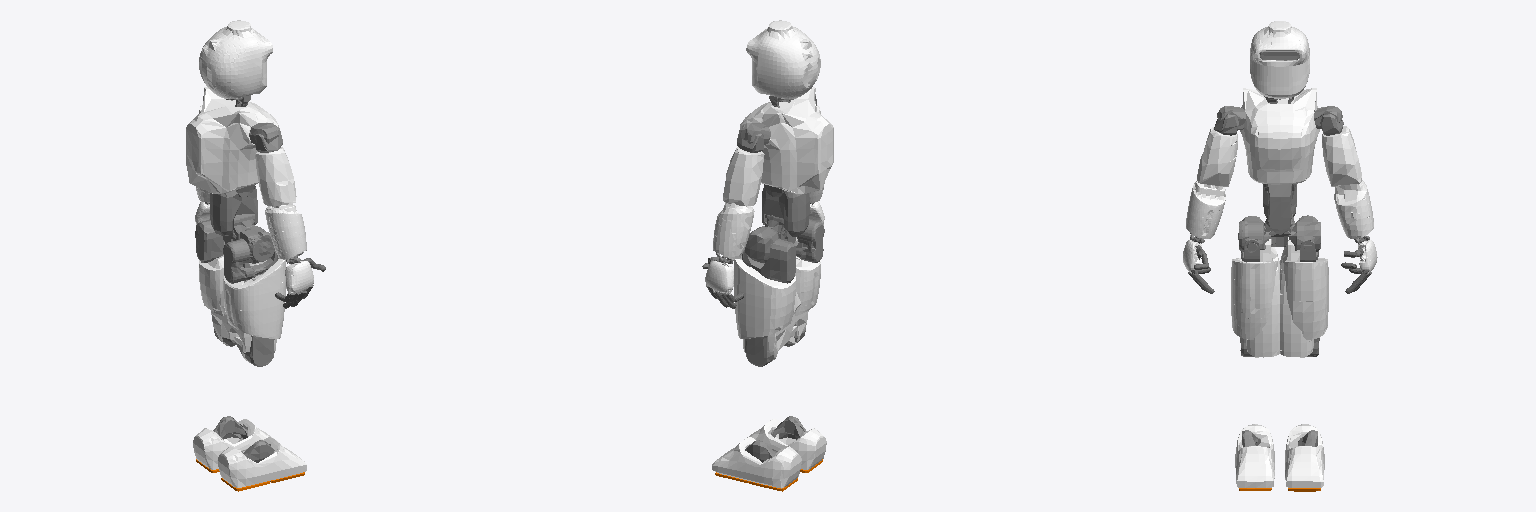
--- Render facts (derived) ---
Views: 3 orthographic renders of the robot side by side, from view 1: azimuth 30°, elevation 25°; view 2: azimuth 150°, elevation 25°; view 3: azimuth 270°, elevation 25°.
Model ergoCub with 205 links and 204 joints (57 revolute, 147 fixed), rooted at root_link, posed all joints at 0 but 12 set to mid-range because 0 is outside their limits (r_middle_prox = 0.9054, r_pinkie_prox = 0.9054, r_ring_prox = 0.9054, r_thumb_prox = 0.8869, r_pinkie_dist = 0.9125, r_index_prox = 0.9054, +6 more).
Visible links, largest first — view 1: chest, head, r_hip_3, r_ankle_2, r_upper_arm, r_forearm, l_ankle_2, torso_1, r_hip_2, l_hip_3, l_hip_2, r_hip_1 (+3 smaller); view 2: chest, head, l_hip_3, l_ankle_2, l_upper_arm, l_forearm, r_ankle_2, torso_1, l_hip_2, r_hip_3, r_hip_2, l_hip_1 (+2 smaller); view 3: chest, head, r_hip_3, l_hip_3, r_ankle_2, l_ankle_2, r_upper_arm, l_upper_arm, l_forearm, r_forearm, l_lower_leg, r_lower_leg (+3 smaller).
Link boxes in pixels (x1,y1,x2,y2): chest: [186, 87, 278, 193]; head: [199, 20, 272, 98]; r_hip_3: [223, 255, 285, 338]; r_ankle_2: [218, 437, 306, 487]; r_upper_arm: [255, 147, 296, 206]; r_forearm: [265, 204, 306, 259]; l_ankle_2: [193, 419, 270, 469]; torso_1: [210, 186, 257, 235]; r_hip_2: [223, 239, 276, 283]; l_hip_3: [199, 255, 223, 315]; l_hip_2: [195, 219, 223, 262]; r_hip_1: [240, 226, 274, 263]; chest: [740, 87, 833, 193]; head: [746, 20, 820, 98]; l_hip_3: [734, 256, 795, 338]; l_ankle_2: [712, 437, 801, 488]; l_upper_arm: [723, 147, 764, 205]; l_forearm: [713, 202, 754, 259]; r_ankle_2: [747, 419, 826, 469]; torso_1: [762, 186, 809, 236]; l_hip_2: [742, 239, 795, 283]; r_hip_3: [795, 256, 820, 315]; r_hip_2: [796, 219, 824, 262]; l_hip_1: [745, 226, 779, 262]; chest: [1240, 88, 1319, 184]; head: [1250, 21, 1309, 98]; r_hip_3: [1231, 258, 1277, 339]; l_hip_3: [1282, 258, 1328, 339]; r_ankle_2: [1235, 424, 1274, 487]; l_ankle_2: [1285, 424, 1324, 487]; r_upper_arm: [1197, 126, 1237, 186]; l_upper_arm: [1322, 126, 1361, 186]; l_forearm: [1334, 180, 1373, 238]; r_forearm: [1186, 181, 1225, 238]; l_lower_leg: [1280, 237, 1313, 357]; r_lower_leg: [1246, 239, 1279, 357].
Bounding box of the posed robot: 0.3293 × 0.5858 × 1.48 m (x, y, z).
67 mesh visuals loaded from 67 distinct referenced files (67 binary STL).

URDF robot description (ergoCub):
<?xml version="1.0"?>
<robot name="ergoCub">
  <link name="root_link">
    <inertial>
      <mass value="2.823751482824641"/>
      <origin xyz="0.0024748962432214403 -1.050794470993344e-4 0.023450368787955644" rpy="0 -0 0"/>
      <inertia ixx="0.005630606285299466" ixy="1.4369039688385168e-6" ixz="2.329934099458601e-5" iyy="0.004380033669258687" iyz="1.4098441290533537e-5" izz="0.003616681010808376"/>
    </inertial>
    <visual>
      <origin xyz="0 0 0" rpy="0 -0 0"/>
      <geometry>
        <mesh filename="package://ergoCub/meshes/simmechanics/sim_ecub_1-1_root_link.stl" scale="0.001 0.001 0.001"/>
      </geometry>
      <material name="">
        <color rgba="0.6 0.6 0.6 1"/>
      </material>
    </visual>
  </link>
  <joint name="l_hip_pitch" type="revolute">
    <origin xyz="0.02109999999999964 0.050500000000000836 1.942890293094024e-16" rpy="3.958535957527503e-15 3.810968172190701e-15 1.167434911886406e-16"/>
    <axis xyz="-5.772831379991284e-17 -1 -1.3843833381666392e-17"/>
    <parent link="root_link"/>
    <child link="l_hip_1"/>
    <limit lower="-0.767944870877505" upper="1.9198621771937625" effort="1e+9" velocity="1e+9"/>
    <dynamics damping="2" friction="0"/>
  </joint>
  <link name="l_hip_1">
    <inertial>
      <mass value="2.231768868859629"/>
      <origin xyz="-0.0040154224851623455 0.028247280560774652 -6.811143992383195e-4" rpy="0 -0 0"/>
      <inertia ixx="0.002210921814931002" ixy="5.971255499379551e-5" ixz="-1.5432160879022988e-5" iyy="0.002695326128467937" iyz="-5.838535051658118e-6" izz="0.0024610381641843883"/>
    </inertial>
    <visual>
      <origin xyz="0 0 0" rpy="0 -0 0"/>
      <geometry>
        <mesh filename="package://ergoCub/meshes/simmechanics/sim_ecub_1-1_l_hip_1.stl" scale="0.001 0.001 0.001"/>
      </geometry>
      <material name="">
        <color rgba="0.6 0.6 0.6 1"/>
      </material>
    </visual>
  </link>
  <joint name="r_hip_pitch" type="revolute">
    <origin xyz="0.021099999999999643 -0.05049999999999917 -2.220446049250313e-16" rpy="3.986223624290839e-15 9.012328668422501e-14 4.978996250550603e-17"/>
    <axis xyz="-1.0880513989386065e-16 -1 1.384383338166008e-17"/>
    <parent link="root_link"/>
    <child link="r_hip_1"/>
    <limit lower="-0.767944870877505" upper="1.9198621771937625" effort="1e+9" velocity="1e+9"/>
    <dynamics damping="2" friction="0"/>
  </joint>
  <link name="r_hip_1">
    <inertial>
      <mass value="2.2320852637398954"/>
      <origin xyz="-0.004032117730258793 -0.028249385885545365 -6.739019720393702e-4" rpy="0 -0 0"/>
      <inertia ixx="0.00221225947743564" ixy="-6.126720536020865e-5" ixz="-1.5035655169601288e-5" iyy="0.002695545891317729" iyz="6.443355522460266e-6" izz="0.0024608876750051726"/>
    </inertial>
    <visual>
      <origin xyz="0 0 0" rpy="0 -0 0"/>
      <geometry>
        <mesh filename="package://ergoCub/meshes/simmechanics/sim_ecub_1-1_r_hip_1.stl" scale="0.001 0.001 0.001"/>
      </geometry>
      <material name="">
        <color rgba="0.6 0.6 0.6 1"/>
      </material>
    </visual>
  </link>
  <joint name="torso_roll" type="revolute">
    <origin xyz="-2.2569638495687323e-18 5.551115123122706e-20 0.060500000000000054" rpy="0 -2.2470258116354473e-44 5.656623812198896e-30"/>
    <axis xyz="-1 0 1.4239886692466155e-15"/>
    <parent link="root_link"/>
    <child link="torso_1"/>
    <limit lower="-0.4363323129985824" upper="0.4363323129985824" effort="1e+9" velocity="1e+9"/>
    <dynamics damping="2" friction="0"/>
  </joint>
  <link name="torso_1">
    <inertial>
      <mass value="2.0645667"/>
      <origin xyz="-0.00963997362197503 6.168494736287859e-4 0.08244231288506354" rpy="0 -0 0"/>
      <inertia ixx="0.007406085999999999" ixy="0" ixz="0" iyy="0.0059470732999999994" iyz="0" izz="0.0031780111"/>
    </inertial>
    <visual>
      <origin xyz="0 0 0" rpy="0 -0 0"/>
      <geometry>
        <mesh filename="package://ergoCub/meshes/simmechanics/sim_ecub_1-1_torso_1.stl" scale="0.001 0.001 0.001"/>
      </geometry>
      <material name="">
        <color rgba="0.6 0.6 0.6 1"/>
      </material>
    </visual>
  </link>
  <joint name="torso_pitch" type="revolute">
    <origin xyz="-7.308863640473442e-17 -4.930380657631324e-32 0.11800000000000001" rpy="3.972379790909169e-15 -2.168404344971009e-19 -5.6574851847587436e-30"/>
    <axis xyz="4.4611650329090856e-46 1 0"/>
    <parent link="torso_1"/>
    <child link="torso_2"/>
    <limit lower="-0.3490658503988659" upper="1.1344640137963142" effort="1e+9" velocity="1e+9"/>
    <dynamics damping="2" friction="0"/>
  </joint>
  <link name="torso_2">
    <inertial>
      <mass value="0.7051627057068411"/>
      <origin xyz="0.0015724674776760373 0.0036223466761378907 0.026019504666210766" rpy="0 -0 0"/>
      <inertia ixx="0.0012590296877101025" ixy="4.1986239270733835e-6" ixz="-5.398163583772818e-6" iyy="6.675525890436374e-4" iyz="7.014302140884287e-5" izz="0.001145822810927014"/>
    </inertial>
    <visual>
      <origin xyz="0 0 0" rpy="0 -0 0"/>
      <geometry>
        <mesh filename="package://ergoCub/meshes/simmechanics/sim_ecub_1-1_torso_2.stl" scale="0.001 0.001 0.001"/>
      </geometry>
      <material name="">
        <color rgba="0.6 0.6 0.6 1"/>
      </material>
    </visual>
  </link>
  <joint name="torso_yaw" type="revolute">
    <origin xyz="1.3451462134168775e-16 2.041347583484923e-16 0.06446999999999986" rpy="-6.08537697719394e-15 -2.0273028245095485e-15 -1.1132600612575291e-15"/>
    <axis xyz="5.75616045676847e-17 -6.185944397532085e-19 -1"/>
    <parent link="torso_2"/>
    <child link="chest"/>
    <limit lower="-0.7853981633974483" upper="0.7853981633974483" effort="1e+9" velocity="1e+9"/>
    <dynamics damping="2" friction="0"/>
  </joint>
  <link name="chest">
    <inertial>
      <mass value="8.169083432788879"/>
      <origin xyz="-0.03577155414469084 -4.1126494112009727e-4 0.08258002384912994" rpy="0 -0 0"/>
      <inertia ixx="0.0410145221879172" ixy="4.588408723680847e-5" ixz="2.1271671513563295e-5" iyy="0.05435611762471025" iyz="-1.1928930234383851e-4" izz="0.04217566475312"/>
    </inertial>
    <visual>
      <origin xyz="0 0 0" rpy="0 -0 0"/>
      <geometry>
        <mesh filename="package://ergoCub/meshes/simmechanics/sim_ecub_1-3_chest_wo_neck.stl" scale="0.001 0.001 0.001"/>
      </geometry>
      <material name="">
        <color rgba="1 1 1 1"/>
      </material>
    </visual>
  </link>
  <joint name="l_shoulder_pitch" type="revolute">
    <origin xyz="-0.013518676842609894 0.06704761117227466 0.12351981080941811" rpy="0.253612323873262 -0.05203160550448937 -0.275278732413873"/>
    <axis xyz="1.6479873021779667e-16 1.0000000000000002 1.6653345369377348e-16"/>
    <parent link="chest"/>
    <child link="l_shoulder_1"/>
    <limit lower="-2.9670597283903604" upper="0.6108652381980153" effort="1e+9" velocity="1e+9"/>
    <dynamics damping="2" friction="0"/>
  </joint>
  <link name="l_shoulder_1">
    <inertial>
      <mass value="0.7913756606310043"/>
      <origin xyz="1.4824275422014796e-4 0.06782971819041986 5.036196460999898e-4" rpy="0 -0 0"/>
      <inertia ixx="0.01" ixy="0" ixz="0" iyy="0.01" iyz="0" izz="0.01"/>
    </inertial>
    <visual>
      <origin xyz="0 0 0" rpy="0 -0 0"/>
      <geometry>
        <mesh filename="package://ergoCub/meshes/simmechanics/sim_ecub_1-1_l_shoulder_1.stl" scale="0.001 0.001 0.001"/>
      </geometry>
      <material name="">
        <color rgba="0.6 0.6 0.6 1"/>
      </material>
    </visual>
  </link>
  <joint name="r_shoulder_pitch" type="revolute">
    <origin xyz="-0.013518676842610102 -0.06704761117227455 0.123519810809418" rpy="-0.253612323873266 -0.052031605504494316 0.27527873241387213"/>
    <axis xyz="-4.961309141293668e-16 1 3.7192471324942744e-15"/>
    <parent link="chest"/>
    <child link="r_shoulder_1"/>
    <limit lower="-2.9670597283903604" upper="0.6108652381980153" effort="1e+9" velocity="1e+9"/>
    <dynamics damping="2" friction="0"/>
  </joint>
  <link name="r_shoulder_1">
    <inertial>
      <mass value="0.7922822880502421"/>
      <origin xyz="1.7243569867328445e-4 -0.06784040318161474 4.7600094527533443e-4" rpy="0 -0 0"/>
      <inertia ixx="0.01" ixy="0" ixz="0" iyy="0.01" iyz="0" izz="0.01"/>
    </inertial>
    <visual>
      <origin xyz="0 0 0" rpy="0 -0 0"/>
      <geometry>
        <mesh filename="package://ergoCub/meshes/simmechanics/sim_ecub_1-1_r_shoulder_1.stl" scale="0.001 0.001 0.001"/>
      </geometry>
      <material name="">
        <color rgba="0.6 0.6 0.6 1"/>
      </material>
    </visual>
  </link>
  <joint name="neck_fixed_joint" type="fixed">
    <origin xyz="-0.0037500000000000168 7.771278122844135e-18 0.18230000000000035" rpy="2.454303953180747e-16 -8.862859940900401e-17 -1.7077209126512794e-15"/>
    <parent link="chest"/>
    <child link="neck_1"/>
  </joint>
  <link name="neck_1">
    <inertial>
      <mass value="0.25627387976979793"/>
      <origin xyz="0.006551572810114587 -0.0027050942316333556 0.03528711380390005" rpy="0 -0 0"/>
      <inertia ixx="1.9974023662230547e-4" ixy="2.651751037073238e-7" ixz="-1.54446091528798e-5" iyy="1.2271241386755159e-4" iyz="4.168707548284002e-6" izz="1.2470608919718895e-4"/>
    </inertial>
    <visual>
      <origin xyz="0 0 0" rpy="0 -0 0"/>
      <geometry>
        <mesh filename="package://ergoCub/meshes/simmechanics/sim_ecub_1-3_head_neck_1.stl" scale="0.001 0.001 0.001"/>
      </geometry>
      <material name="">
        <color rgba="0.6 0.6 0.6 1"/>
      </material>
    </visual>
  </link>
  <joint name="neck_pitch" type="revolute">
    <origin xyz="0.008650000000000012 7.320885711617546e-18 0.04500000000000015" rpy="-1.0665261453816911e-16 -5.519574696288838e-17 -2.6107690343301583e-17"/>
    <axis xyz="2.6107690343301583e-17 -1 -1.0665261453816985e-16"/>
    <parent link="neck_1"/>
    <child link="neck_2"/>
    <limit lower="-0.7853981633974483" upper="0.3839724354387525" effort="1e+9" velocity="1e+9"/>
    <dynamics damping="2" friction="0"/>
  </joint>
  <link name="neck_2">
    <inertial>
      <mass value="0.2945770397905417"/>
      <origin xyz="-0.010459771530164481 2.0082617155355452e-4 0.009087209541868035" rpy="0 -0 0"/>
      <inertia ixx="1.2591560224570937e-4" ixy="-3.064039041078833e-6" ixz="2.6108646064688653e-6" iyy="2.3611402495028025e-4" iyz="-1.0387919568957451e-6" izz="3.055276927828535e-4"/>
    </inertial>
    <visual>
      <origin xyz="0 0 0" rpy="0 -0 0"/>
      <geometry>
        <mesh filename="package://ergoCub/meshes/simmechanics/sim_ecub_1-3_head_neck_2.stl" scale="0.001 0.001 0.001"/>
      </geometry>
      <material name="">
        <color rgba="0.6 0.6 0.6 1"/>
      </material>
    </visual>
  </link>
  <joint name="neck_roll" type="revolute">
    <origin xyz="-8.673617379884035e-18 7.621565237031785e-16 0.0109999999999979" rpy="2.181085978698431e-16 7.048128258423433e-14 1.1728388358407565e-14"/>
    <axis xyz="1 7.656403531628012e-16 -9.994164729509407e-17"/>
    <parent link="neck_2"/>
    <child link="neck_3"/>
    <limit lower="-0.3490658503988659" upper="0.3490658503988659" effort="1e+9" velocity="1e+9"/>
    <dynamics damping="2" friction="0"/>
  </joint>
  <link name="neck_3">
    <inertial>
      <mass value="0.26196252682452986"/>
      <origin xyz="-0.01128743581519258 1.9992128363116957e-7 0.0441664976596047" rpy="0 -0 0"/>
      <inertia ixx="2.1042529365574477e-4" ixy="1.6665678269668257e-8" ixz="-8.803107073461479e-5" iyy="2.703191160638858e-4" iyz="0" izz="1.0757199897321482e-4"/>
    </inertial>
    <visual>
      <origin xyz="0 0 0" rpy="0 -0 0"/>
      <geometry>
        <mesh filename="package://ergoCub/meshes/simmechanics/sim_ecub_1-3_head_neck_3.stl" scale="0.001 0.001 0.001"/>
      </geometry>
      <material name="">
        <color rgba="0.6 0.6 0.6 1"/>
      </material>
    </visual>
  </link>
  <joint name="neck_yaw" type="revolute">
    <origin xyz="-7.979727989493313e-17 1.0170259927660546e-17 0.06914999999999966" rpy="-3.413180771690963e-17 -1.4136323177540172e-15 8.993432958059511e-16"/>
    <axis xyz="1.4136323177540172e-15 -3.4131807716909626e-17 0.9999999999999999"/>
    <parent link="neck_3"/>
    <child link="head"/>
    <limit lower="-0.7853981633974483" upper="0.7853981633974483" effort="1e+9" velocity="1e+9"/>
    <dynamics damping="2" friction="0"/>
  </joint>
  <link name="head">
    <inertial>
      <mass value="1.6902682"/>
      <origin xyz="-0.01620091412622722 -0.002268813231724542 0.03500744217497026" rpy="0 -0 0"/>
      <inertia ixx="0.0097840569" ixy="0" ixz="0" iyy="0.010869342" iyz="0" izz="0.0070099259"/>
    </inertial>
    <visual>
      <origin xyz="0 0 0" rpy="0 -0 0"/>
      <geometry>
        <mesh filename="package://ergoCub/meshes/simmechanics/sim_ecub_1-1_head.stl" scale="0.001 0.001 0.001"/>
      </geometry>
      <material name="">
        <color rgba="1 1 1 1"/>
      </material>
    </visual>
  </link>
  <joint name="camera_tilt" type="revolute">
    <origin xyz="0.06251000000000005 -3.0000000001051003e-5 0.0763925000000007" rpy="9.11230716910164e-15 2.5958199361708845e-4 1.6547436488570698e-15"/>
    <axis xyz="2.482820070582213e-16 -1 -1.3582113747213138e-15"/>
    <parent link="head"/>
    <child link="realsense"/>
    <limit lower="-0.5235987755982988" upper="0.5235987755982988" effort="1e+9" velocity="1e+9"/>
    <dynamics damping="2" friction="0"/>
  </joint>
  <link name="realsense">
    <inertial>
      <mass value="0.0973042045264468"/>
      <origin xyz="-0.01566548310600667 0.004519995218644514 0.002745610154123612" rpy="0 -0 0"/>
      <inertia ixx="0.01" ixy="0" ixz="0" iyy="0.01" iyz="0" izz="0.01"/>
    </inertial>
    <visual>
      <origin xyz="0 0 0" rpy="0 -0 0"/>
      <geometry>
        <mesh filename="package://ergoCub/meshes/simmechanics/sim_ecub_1-1_realsense.stl" scale="0.001 0.001 0.001"/>
      </geometry>
      <material name="">
        <color rgba="0.6 0.6 0.6 1"/>
      </material>
    </visual>
  </link>
  <joint name="r_shoulder_roll" type="revolute">
    <origin xyz="0.007499999999999894 -0.09329999999999998 -4.163336342344337e-16" rpy="-9.270362255620051e-15 9.38832345198648e-15 -4.718447854656911e-15"/>
    <axis xyz="-1.0000000000000009 1.042568809061973e-15 -2.983724378679619e-16"/>
    <parent link="r_shoulder_1"/>
    <child link="r_shoulder_2"/>
    <limit lower="-0.2617993877991494" upper="2.6179938779914944" effort="1e+9" velocity="1e+9"/>
    <dynamics damping="2" friction="0"/>
  </joint>
  <link name="r_shoulder_2">
    <inertial>
      <mass value="0.4392272062642899"/>
      <origin xyz="0.005113618901434032 -2.13348557806331e-4 -0.020425805469504787" rpy="0 -0 0"/>
      <inertia ixx="0.01" ixy="0" ixz="0" iyy="0.01" iyz="0" izz="0.01"/>
    </inertial>
    <visual>
      <origin xyz="0 0 0" rpy="0 -0 0"/>
      <geometry>
        <mesh filename="package://ergoCub/meshes/simmechanics/sim_ecub_1-1_r_shoulder_2.stl" scale="0.001 0.001 0.001"/>
      </geometry>
      <material name="">
        <color rgba="0.6 0.6 0.6 1"/>
      </material>
    </visual>
  </link>
  <joint name="r_arm_ft_sensor" type="fixed">
    <origin xyz="-0.0068499999999999985 -5.551115123125783e-17 -0.05429999999999999" rpy="-1.1102230246251565e-16 -2.3592239273284576e-16 1.7208456881689918e-15"/>
    <parent link="r_shoulder_2"/>
    <child link="r_shoulder_3"/>
  </joint>
  <link name="r_shoulder_3">
    <inertial>
      <mass value="0.271466272759966"/>
      <origin xyz="-8.31167799586717e-5 -3.0654831449927755e-5 -0.007966545320293866" rpy="0 -0 0"/>
      <inertia ixx="0.01" ixy="0" ixz="0" iyy="0.01" iyz="0" izz="0.01"/>
    </inertial>
    <visual>
      <origin xyz="0 0 0" rpy="0 -0 0"/>
      <geometry>
        <mesh filename="package://ergoCub/meshes/simmechanics/sim_ecub_1-1_r_shoulder_3.stl" scale="0.001 0.001 0.001"/>
      </geometry>
      <material name="">
        <color rgba="0.6 0.6 0.6 1"/>
      </material>
    </visual>
  </link>
  <joint name="r_shoulder_yaw" type="revolute">
    <origin xyz="3.469446951953614e-17 2.7755575615628914e-17 -0.022499999999999937" rpy="0 -1.3183898417423734e-16 7.716050021144835e-15"/>
    <axis xyz="8.326672684688738e-17 8.32667268468871e-17 1"/>
    <parent link="r_shoulder_3"/>
    <child link="r_upper_arm"/>
    <limit lower="-0.9075712110370514" upper="1.4311699866353502" effort="1e+9" velocity="1e+9"/>
    <dynamics damping="2" friction="0"/>
  </joint>
  <link name="r_upper_arm">
    <inertial>
      <mass value="1.7722348545631907"/>
      <origin xyz="1.4699786491786937e-4 -0.0023354938418406186 -0.05011711267210951" rpy="0 -0 0"/>
      <inertia ixx="0.0034219198528275844" ixy="3.081029189714289e-5" ixz="2.5743017599563002e-5" iyy="0.003510878854314856" iyz="-1.0938393403810045e-4" izz="0.0015765483711818404"/>
    </inertial>
    <visual>
      <origin xyz="0 0 0" rpy="0 -0 0"/>
      <geometry>
        <mesh filename="package://ergoCub/meshes/simmechanics/sim_ecub_1-1_r_upperarm.stl" scale="0.001 0.001 0.001"/>
      </geometry>
      <material name="">
        <color rgba="1 1 1 1"/>
      </material>
    </visual>
  </link>
  <joint name="r_elbow" type="revolute">
    <origin xyz="0.010000000000000045 0.0015000000000005287 -0.12370000000000003" rpy="-3.330669073875462e-16 -5.564992910933597e-15 -8.160139230994877e-15"/>
    <axis xyz="1.335737076501933e-16 -1.0000000000000027 1.2878587085651816e-14"/>
    <parent link="r_upper_arm"/>
    <child link="r_forearm"/>
    <limit lower="-0.08726646259971647" upper="2.0943951023931953" effort="1e+9" velocity="1e+9"/>
    <dynamics damping="2" friction="0"/>
  </joint>
  <link name="r_forearm">
    <inertial>
      <mass value="1.4760712424977045"/>
      <origin xyz="-0.01830687629472739 -0.002214887320910963 -0.08814943647449926" rpy="0 -0 0"/>
      <inertia ixx="0.009999999999999998" ixy="0" ixz="0" iyy="0.01" iyz="0" izz="0.01"/>
    </inertial>
    <visual>
      <origin xyz="0 0 0" rpy="0 -0 0"/>
      <geometry>
        <mesh filename="package://ergoCub/meshes/simmechanics/sim_ecub_1-1_r_forearm.stl" scale="0.001 0.001 0.001"/>
      </geometry>
      <material name="">
        <color rgba="1 1 1 1"/>
      </material>
    </visual>
  </link>
  <joint name="r_wrist_yaw" type="revolute">
    <origin xyz="-0.014999999999999741 -0.001999999999996449 -0.19435000000000124" rpy="-2.1649348980190505e-15 -1.1594891713428979e-14 -2.9420910152566577e-15"/>
    <axis xyz="5.585809592645348e-15 -1.2712053631958061e-14 1.0000000000000022"/>
    <parent link="r_forearm"/>
    <child link="r_wrist_1"/>
    <limit lower="-1.6057029118347832" upper="1.6057029118347832" effort="1e+9" velocity="1e+9"/>
    <dynamics damping="2" friction="0"/>
  </joint>
  <link name="r_wrist_1">
    <inertial>
      <mass value="0.12269276206782376"/>
      <origin xyz="-1.4544607175177166e-4 1.559247070407055e-4 0.022377800821402394" rpy="0 -0 0"/>
      <inertia ixx="0.01" ixy="0" ixz="0" iyy="0.01" iyz="0" izz="0.01"/>
    </inertial>
    <visual>
      <origin xyz="0 0 0" rpy="0 -0 0"/>
      <geometry>
        <mesh filename="package://ergoCub/meshes/simmechanics/sim_ecub_1-1_r_wrist_1.stl" scale="0.001 0.001 0.001"/>
      </geometry>
      <material name="">
        <color rgba="0.6 0.6 0.6 1"/>
      </material>
    </visual>
  </link>
  <joint name="r_wrist_roll" type="revolute">
    <origin xyz="1.214306433183765e-16 2.220446049250313e-16 1.942890293094024e-16" rpy="1.9428902930940242e-16 9.020562075079397e-17 -3.88578058618805e-16"/>
    <axis xyz="0.9999999999999996 -1.3704315460216776e-16 -1.3183898417423749e-16"/>
    <parent link="r_wrist_1"/>
    <child link="r_wrist_2"/>
    <limit lower="-0.3490658503988659" upper="0.5235987755982988" effort="1e+9" velocity="1e+9"/>
    <dynamics damping="2" friction="0"/>
  </joint>
  <link name="r_wrist_2">
    <inertial>
      <mass value="0.021188357245777188"/>
      <origin xyz="5.05499045400093e-11 7.897372606293362e-4 -0.004696960055006527" rpy="0 -0 0"/>
      <inertia ixx="0.01" ixy="0" ixz="0" iyy="0.01" iyz="0" izz="0.01"/>
    </inertial>
    <visual>
      <origin xyz="0 0 0" rpy="0 -0 0"/>
      <geometry>
        <mesh filename="package://ergoCub/meshes/simmechanics/sim_ecub_1-1_r_wrist_2.stl" scale="0.001 0.001 0.001"/>
      </geometry>
      <material name="">
        <color rgba="0.5 0.5 0.5 1"/>
      </material>
    </visual>
  </link>
  <joint name="r_wrist_pitch" type="revolute">
    <origin xyz="-6.245004513516506e-17 -1.3877787807814457e-16 -1.1102230246251565e-16" rpy="1.387778780781446e-16 -2.5743296383495817e-15 -3.330669073875471e-16"/>
    <axis xyz="3.5735303605122132e-16 -0.9999999999999998 -9.43689570931383e-16"/>
    <parent link="r_wrist_2"/>
    <child link="r_hand_palm"/>
    <limit lower="-0.3490658503988659" upper="0.3490658503988659" effort="1e+9" velocity="1e+9"/>
    <dynamics damping="2" friction="0"/>
  </joint>
  <link name="r_hand_palm">
    <inertial>
      <mass value="0.2020068404688116"/>
      <origin xyz="-0.003982157972782507 -0.0021135289059891482 -0.05842371394186491" rpy="0 -0 0"/>
      <inertia ixx="0.01" ixy="0" ixz="0" iyy="0.01" iyz="0" izz="0.01"/>
    </inertial>
    <visual>
      <origin xyz="0 0 0" rpy="0 -0 0"/>
      <geometry>
        <mesh filename="package://ergoCub/meshes/simmechanics/sim_ecub_1-1_r_hand_palm.stl" scale="0.001 0.001 0.001"/>
      </geometry>
      <material name="">
        <color rgba="1 1 1 1"/>
      </material>
    </visual>
  </link>
  <joint name="r_index_add" type="revolute">
    <origin xyz="0.022499999999999756 0.0015000000000003344 -0.06859999999999983" rpy="-1.480212607508763e-15 0.2967059728390382 3.141592653589792"/>
    <axis xyz="-3.723989090107058e-16 -0.9999999999999997 1.7434690656320414e-15"/>
    <parent link="r_hand_palm"/>
    <child link="r_hand_index_1"/>
    <limit lower="0" upper="0.2617993877991494" effort="1e+9" velocity="1e+9"/>
    <dynamics damping="2" friction="0"/>
  </joint>
  <link name="r_hand_index_1">
    <inertial>
      <mass value="0.019232477290189804"/>
      <origin xyz="-0.008420124408709713 0.003850331678233287 -0.01714942611279774" rpy="0 -0 0"/>
      <inertia ixx="0.01" ixy="0" ixz="0" iyy="0.01" iyz="0" izz="0.01"/>
    </inertial>
    <visual>
      <origin xyz="0 0 0" rpy="0 -0 0"/>
      <geometry>
        <mesh filename="package://ergoCub/meshes/simmechanics/sim_ecub_1-1_r_hand_index_1.stl" scale="0.001 0.001 0.001"/>
      </geometry>
      <material name="">
        <color rgba="0.5 0.5 0.5 1"/>
      </material>
    </visual>
  </link>
  <joint name="r_middle_prox" type="revolute">
    <origin xyz="0.009600000000000192 0.0015000000000006675 -0.1029999999999997" rpy="-1.1542863886937485e-10 8.673617379884035e-16 3.1415926535897927"/>
    <axis xyz="-0.9999999999999997 -4.562322742105741e-15 1.5959455974425262e-15"/>
    <parent link="r_hand_palm"/>
    <child link="r_hand_middle_1"/>
    <limit lower="0.10035643198967395" upper="1.710422666954443" effort="1e+9" velocity="1e+9"/>
    <dynamics damping="2" friction="0"/>
  </joint>
  <link name="r_hand_middle_1">
    <inertial>
      <mass value="0.007486365997467528"/>
      <origin xyz="5.610258533731913e-5 0.0011131046827904112 -0.01742880983276912" rpy="0 -0 0"/>
      <inertia ixx="0.01" ixy="0" ixz="0" iyy="0.01" iyz="0" izz="0.01"/>
    </inertial>
    <visual>
      <origin xyz="0 0 0" rpy="0 -0 0"/>
      <geometry>
        <mesh filename="package://ergoCub/meshes/simmechanics/sim_ecub_1-1_r_hand_middle_1.stl" scale="0.001 0.001 0.001"/>
      </geometry>
      <material name="">
        <color rgba="0.5 0.5 0.5 1"/>
      </material>
    </visual>
  </link>
  <joint name="r_pinkie_prox" type="revolute">
    <origin xyz="-0.03598268094316618 0.0023777595791096284 -0.0920682813194636" rpy="4.109533671631981e-4 -0.08726646259972862 3.115412714809877"/>
    <axis xyz="-0.9999999999999998 4.254497416259634e-15 -2.7755575615628914e-17"/>
    <parent link="r_hand_palm"/>
    <child link="r_hand_pinkie_1"/>
    <limit lower="0.10035643198967395" upper="1.710422666954443" effort="1e+9" velocity="1e+9"/>
    <dynamics damping="2" friction="0"/>
  </joint>
  <link name="r_hand_pinkie_1">
    <inertial>
      <mass value="0.006357585733638135"/>
      <origin xyz="3.616260147435227e-5 0.0012147050941129778 -0.015053109692718447" rpy="0 -0 0"/>
      <inertia ixx="0.01" ixy="0" ixz="0" iyy="0.01" iyz="0" izz="0.01"/>
    </inertial>
    <visual>
      <origin xyz="0 0 0" rpy="0 -0 0"/>
      <geometry>
        <mesh filename="package://ergoCub/meshes/simmechanics/sim_ecub_1-1_r_hand_pinkie_1.stl" scale="0.001 0.001 0.001"/>
      </geometry>
      <material name="">
        <color rgba="0.5 0.5 0.5 1"/>
      </material>
    </visual>
  </link>
  <joint name="r_ring_prox" type="revolute">
    <origin xyz="-0.01541775555811984 0.0018498137284709282 -0.09788067183884414" rpy="-7.278212650060107e-11 -0.08726646259972907 3.115412714809877"/>
    <axis xyz="-0.9999999999999997 -3.66218915082032e-15 -4.371503159461554e-15"/>
    <parent link="r_hand_palm"/>
    <child link="r_hand_ring_1"/>
    <limit lower="0.10035643198967395" upper="1.710422666954443" effort="1e+9" velocity="1e+9"/>
    <dynamics damping="2" friction="0"/>
  </joint>
  <link name="r_hand_ring_1">
    <inertial>
      <mass value="0.007486365997467528"/>
      <origin xyz="5.6102585337293107e-5 0.0011131045999587252 -0.017428809839565573" rpy="0 -0 0"/>
      <inertia ixx="0.01" ixy="0" ixz="0" iyy="0.01" iyz="0" izz="0.01"/>
    </inertial>
    <visual>
      <origin xyz="0 0 0" rpy="0 -0 0"/>
      <geometry>
        <mesh filename="package://ergoCub/meshes/simmechanics/sim_ecub_1-1_r_hand_ring_1.stl" scale="0.001 0.001 0.001"/>
      </geometry>
      <material name="">
        <color rgba="0.5 0.5 0.5 1"/>
      </material>
    </visual>
  </link>
  <joint name="r_thumb_add" type="revolute">
    <origin xyz="0.02337486325639067 0.0030000000000002802 -0.034523838473554336" rpy="1.6236826923039338e-15 -0.2268928027592642 -9.685124831286622e-16"/>
    <axis xyz="5.551115123125783e-17 2.400579033184047e-15 0.9999999999999997"/>
    <parent link="r_hand_palm"/>
    <child link="r_hand_thumb_1"/>
    <limit lower="0" upper="1.7453292519943295" effort="1e+9" velocity="1e+9"/>
    <dynamics damping="2" friction="0"/>
  </joint>
  <link name="r_hand_thumb_1">
    <inertial>
      <mass value="0.02894174189037044"/>
      <origin xyz="0.0183756324403817 -4.55521018183358e-5 0.002126473485347669" rpy="0 -0 0"/>
      <inertia ixx="0.01" ixy="0" ixz="0" iyy="0.01" iyz="0" izz="0.01"/>
    </inertial>
    <visual>
      <origin xyz="0 0 0" rpy="0 -0 0"/>
      <geometry>
        <mesh filename="package://ergoCub/meshes/simmechanics/sim_ecub_1-1_r_hand_thumb_1.stl" scale="0.001 0.001 0.001"/>
      </geometry>
      <material name="">
        <color rgba="0.5 0.5 0.5 1"/>
      </material>
    </visual>
  </link>
  <joint name="r_thumb_prox" type="revolute">
    <origin xyz="0.03807465449956041 0.0034691095803252303 -0.003601744803549689" rpy="1.4305744121363377 0.19703059795893424 -1.4222071875351316"/>
    <axis xyz="-1.0000000000000009 -1.3850032232198828e-14 2.55351295663786e-15"/>
    <parent link="r_hand_thumb_1"/>
    <child link="r_hand_thumb_2"/>
    <limit lower="0.06335545184739416" upper="1.710422666954443" effort="1e+9" velocity="1e+9"/>
    <dynamics damping="2" friction="0"/>
  </joint>
  <link name="r_hand_thumb_2">
    <inertial>
      <mass value="0.00744305878263309"/>
      <origin xyz="1.1691406974989604e-5 3.0451621296398446e-4 -0.014894613060785539" rpy="0 -0 0"/>
      <inertia ixx="0.01" ixy="0" ixz="0" iyy="0.01" iyz="0" izz="0.01"/>
    </inertial>
    <visual>
      <origin xyz="0 0 0" rpy="0 -0 0"/>
      <geometry>
        <mesh filename="package://ergoCub/meshes/simmechanics/sim_ecub_1-1_r_hand_thumb_2.stl" scale="0.001 0.001 0.001"/>
      </geometry>
      <material name="">
        <color rgba="0.5 0.5 0.5 1"/>
      </material>
    </visual>
  </link>
  <joint name="r_thumb_dist" type="revolute">
    <origin xyz="-8.326672684688674e-17 -0.0037106255282955414 -0.03483505788984376" rpy="-0.0632887739526227 1.1102230246251565e-15 1.3156142841808081e-14"/>
    <axis xyz="-1.0000000000000018 -3.053474706904843e-14 2.4380445610377233e-15"/>
    <parent link="r_hand_thumb_2"/>
    <child link="r_hand_thumb_3"/>
    <limit lower="0" upper="1.7763961126798287" effort="1e+9" velocity="1e+9"/>
    <dynamics damping="2" friction="0"/>
  </joint>
  <link name="r_hand_thumb_3">
    <inertial>
      <mass value="0.008481423658381124"/>
      <origin xyz="-2.8601851543103015e-5 0.002737889256839321 -0.016935937291633126" rpy="0 -0 0"/>
      <inertia ixx="0.01" ixy="0" ixz="0" iyy="0.01" iyz="0" izz="0.01"/>
    </inertial>
    <visual>
      <origin xyz="0 0 0" rpy="0 -0 0"/>
      <geometry>
        <mesh filename="package://ergoCub/meshes/simmechanics/sim_ecub_1-1_r_hand_thumb_3.stl" scale="0.001 0.001 0.001"/>
      </geometry>
      <material name="">
        <color rgba="0.5 0.5 0.5 1"/>
      </material>
    </visual>
  </link>
  <joint name="r_ring_dist" type="revolute">
    <origin xyz="2.8275992658421956e-16 -0.0014999999970887745 -0.04000000000010917" rpy="7.277983771203371e-11 -2.060851489460447e-15 -3.6082248300317592e-16"/>
    <axis xyz="-0.9999999999999999 1.2143064331812404e-16 1.9671764217407813e-15"/>
    <parent link="r_hand_ring_1"/>
    <child link="r_hand_ring_2"/>
    <limit lower="0" upper="1.7165313193364231" effort="1e+9" velocity="1e+9"/>
    <dynamics damping="2" friction="0"/>
  </joint>
  <link name="r_hand_ring_2">
    <inertial>
      <mass value="0.007251413355667432"/>
      <origin xyz="4.43251343077225e-5 0.00275470906266162 -0.018890876418029168" rpy="0 -0 0"/>
      <inertia ixx="0.01" ixy="0" ixz="0" iyy="0.01" iyz="0" izz="0.01"/>
    </inertial>
    <visual>
      <origin xyz="0 0 0" rpy="0 -0 0"/>
      <geometry>
        <mesh filename="package://ergoCub/meshes/simmechanics/sim_ecub_1-1_r_hand_ring_2.stl" scale="0.001 0.001 0.001"/>
      </geometry>
      <material name="">
        <color rgba="0.5 0.5 0.5 1"/>
      </material>
    </visual>
  </link>
  <joint name="r_pinkie_dist" type="revolute">
    <origin xyz="2.8102520310824275e-16 -0.0015141933068321678 -0.03499938883222847" rpy="-0.001295691447042631 -2.6853519408120974e-15 -5.551115123125784e-17"/>
    <axis xyz="-0.9999999999999999 1.1811805530917535e-15 3.2393701614668746e-17"/>
    <parent link="r_hand_pinkie_1"/>
    <child link="r_hand_pinkie_2"/>
    <limit lower="0.04852015320544236" upper="1.7763961126798287" effort="1e+9" velocity="1e+9"/>
    <dynamics damping="2" friction="0"/>
  </joint>
  <link name="r_hand_pinkie_2">
    <inertial>
      <mass value="0.007240237490764073"/>
      <origin xyz="2.1391072559044655e-5 0.0027712863562942003 -0.018930305880602127" rpy="0 -0 0"/>
      <inertia ixx="0.01" ixy="0" ixz="0" iyy="0.01" iyz="0" izz="0.01"/>
    </inertial>
    <visual>
      <origin xyz="0 0 0" rpy="0 -0 0"/>
      <geometry>
        <mesh filename="package://ergoCub/meshes/simmechanics/sim_ecub_1-1_r_hand_pinkie_2.stl" scale="0.001 0.001 0.001"/>
      </geometry>
      <material name="">
        <color rgba="0.5 0.5 0.5 1"/>
      </material>
    </visual>
  </link>
  <joint name="r_middle_dist" type="revolute">
    <origin xyz="3.469446951953614e-16 -0.0014999999953827503 -0.04000000000017301" rpy="-7.524008321935235e-8 -1.1379786002407855e-15 -1.6653345369377353e-16"/>
    <axis xyz="-0.9999999999999997 -2.2915699498351828e-15 4.309052941908487e-15"/>
    <parent link="r_hand_middle_1"/>
    <child link="r_hand_middle_2"/>
    <limit lower="0" upper="1.7165313193364231" effort="1e+9" velocity="1e+9"/>
    <dynamics damping="2" friction="0"/>
  </joint>
  <link name="r_hand_middle_2">
    <inertial>
      <mass value="0.007251413355667432"/>
      <origin xyz="4.432513430769475e-5 0.0027547091926723166 -0.018890876399070666" rpy="0 -0 0"/>
      <inertia ixx="0.01" ixy="0" ixz="0" iyy="0.01" iyz="0" izz="0.01"/>
    </inertial>
    <visual>
      <origin xyz="0 0 0" rpy="0 -0 0"/>
      <geometry>
        <mesh filename="package://ergoCub/meshes/simmechanics/sim_ecub_1-1_r_hand_middle_2.stl" scale="0.001 0.001 0.001"/>
      </geometry>
      <material name="">
        <color rgba="0.5 0.5 0.5 1"/>
      </material>
    </visual>
  </link>
  <joint name="r_index_prox" type="revolute">
    <origin xyz="-0.00919253331742792 -1.1102230246251565e-16 -0.030713451316238427" rpy="-1.1542736211289652e-10 -2.7755575615628914e-16 5.551115123125786e-17"/>
    <axis xyz="-0.9999999999999994 3.656797087580167e-15 -1.644517854829551e-15"/>
    <parent link="r_hand_index_1"/>
    <child link="r_hand_index_2"/>
    <limit lower="0.10035643198967395" upper="1.710422666954443" effort="1e+9" velocity="1e+9"/>
    <dynamics damping="2" friction="0"/>
  </joint>
  <link name="r_hand_index_2">
    <inertial>
      <mass value="0.007486365997467528"/>
      <origin xyz="5.610258533736423e-5 0.0011131050125119946 -0.01742880980571504" rpy="0 -0 0"/>
      <inertia ixx="0.01" ixy="0" ixz="0" iyy="0.01" iyz="0" izz="0.01"/>
    </inertial>
    <visual>
      <origin xyz="0 0 0" rpy="0 -0 0"/>
      <geometry>
        <mesh filename="package://ergoCub/meshes/simmechanics/sim_ecub_1-1_r_hand_index_2.stl" scale="0.001 0.001 0.001"/>
      </geometry>
      <material name="">
        <color rgba="0.5 0.5 0.5 1"/>
      </material>
    </visual>
  </link>
  <joint name="r_index_dist" type="revolute">
    <origin xyz="4.440892098500626e-16 -0.0014999999999996683 -0.039999999999999925" rpy="8.326672684688674e-17 -4.926614671774132e-16 -1.6653345369377353e-16"/>
    <axis xyz="-0.9999999999999998 -2.5673907444456755e-16 -1.8041124150158784e-16"/>
    <parent link="r_hand_index_2"/>
    <child link="r_hand_index_3"/>
    <limit lower="0" upper="1.7165313193364231" effort="1e+9" velocity="1e+9"/>
    <dynamics damping="2" friction="0"/>
  </joint>
  <link name="r_hand_index_3">
    <inertial>
      <mass value="0.007251413355667432"/>
      <origin xyz="4.432513430773638e-5 0.0027547026217409343 -0.01889087735725714" rpy="0 -0 0"/>
      <inertia ixx="0.01" ixy="0" ixz="0" iyy="0.01" iyz="0" izz="0.01"/>
    </inertial>
    <visual>
      <origin xyz="0 0 0" rpy="0 -0 0"/>
      <geometry>
        <mesh filename="package://ergoCub/meshes/simmechanics/sim_ecub_1-1_r_hand_index_3.stl" scale="0.001 0.001 0.001"/>
      </geometry>
      <material name="">
        <color rgba="0.5 0.5 0.5 1"/>
      </material>
    </visual>
  </link>
  <joint name="l_shoulder_roll" type="revolute">
    <origin xyz="0.005000000000000043 0.0933 -8.326672684688674e-17" rpy="2.6673108166619386e-14 1.1934897514720433e-15 -2.275957200481571e-15"/>
    <axis xyz="1 3.226585665317271e-16 2.7269853042355893e-15"/>
    <parent link="l_shoulder_1"/>
    <child link="l_shoulder_2"/>
    <limit lower="-0.2617993877991494" upper="2.6179938779914944" effort="1e+9" velocity="1e+9"/>
    <dynamics damping="2" friction="0"/>
  </joint>
  <link name="l_shoulder_2">
    <inertial>
      <mass value="0.44093319265387243"/>
      <origin xyz="0.007519395712385758 1.8727197477702573e-4 -0.020486062588588566" rpy="0 -0 0"/>
      <inertia ixx="0.01" ixy="0" ixz="0" iyy="0.01" iyz="0" izz="0.01"/>
    </inertial>
    <visual>
      <origin xyz="0 0 0" rpy="0 -0 0"/>
      <geometry>
        <mesh filename="package://ergoCub/meshes/simmechanics/sim_ecub_1-1_l_shoulder_2.stl" scale="0.001 0.001 0.001"/>
      </geometry>
      <material name="">
        <color rgba="0.6 0.6 0.6 1"/>
      </material>
    </visual>
  </link>
  <joint name="l_arm_ft_sensor" type="fixed">
    <origin xyz="-0.004349999999999979 -2.7755575615628914e-17 -0.054300000000000015" rpy="1.942890293094024e-16 2.0816681711721685e-17 1.4988010832439621e-15"/>
    <parent link="l_shoulder_2"/>
    <child link="l_shoulder_3"/>
  </joint>
  <link name="l_shoulder_3">
    <inertial>
      <mass value="0.271466272759966"/>
      <origin xyz="8.311677995862313e-5 3.065483169523153e-5 -0.007966545320293866" rpy="0 -0 0"/>
      <inertia ixx="0.01" ixy="0" ixz="0" iyy="0.01" iyz="0" izz="0.01"/>
    </inertial>
    <visual>
      <origin xyz="0 0 0" rpy="0 -0 0"/>
      <geometry>
        <mesh filename="package://ergoCub/meshes/simmechanics/sim_ecub_1-1_l_shoulder_3.stl" scale="0.001 0.001 0.001"/>
      </geometry>
      <material name="">
        <color rgba="0.6 0.6 0.6 1"/>
      </material>
    </visual>
  </link>
  <joint name="l_shoulder_yaw" type="revolute">
    <origin xyz="-3.469446951953614e-17 0 -0.022500000000000075" rpy="-3.3029134982598474e-15 -3.008704396734174e-14 6.217248937900895e-15"/>
    <axis xyz="-3.0142555118573e-14 3.191891195797326e-15 -0.999999999999998"/>
    <parent link="l_shoulder_3"/>
    <child link="l_upper_arm"/>
    <limit lower="-0.9075712110370514" upper="1.4311699866353502" effort="1e+9" velocity="1e+9"/>
    <dynamics damping="2" friction="0"/>
  </joint>
  <link name="l_upper_arm">
    <inertial>
      <mass value="1.7708527474969076"/>
      <origin xyz="1.3049265136780286e-4 0.0022530185376357925 -0.050065038959805325" rpy="0 -0 0"/>
      <inertia ixx="0.003417154867942194" ixy="-2.952452997527239e-5" ixz="2.6752323704214618e-5" iyy="0.0035109035513553296" iyz="1.0388063737032838e-4" izz="0.0015716101936389657"/>
    </inertial>
    <visual>
      <origin xyz="0 0 0" rpy="0 -0 0"/>
      <geometry>
        <mesh filename="package://ergoCub/meshes/simmechanics/sim_ecub_1-1_l_upperarm.stl" scale="0.001 0.001 0.001"/>
      </geometry>
      <material name="">
        <color rgba="1 1 1 1"/>
      </material>
    </visual>
  </link>
  <joint name="l_elbow" type="revolute">
    <origin xyz="0.009999999999996192 -0.0014999999999996683 -0.12369999999999957" rpy="-3.552713678800515e-15 -2.996908277097532e-14 -7.993605777301171e-15"/>
    <axis xyz="-2.5500435096847217e-16 -0.9999999999999952 6.189493362284994e-15"/>
    <parent link="l_upper_arm"/>
    <child link="l_forearm"/>
    <limit lower="-0.08726646259971647" upper="2.0943951023931953" effort="1e+9" velocity="1e+9"/>
    <dynamics damping="2" friction="0"/>
  </joint>
  <link name="l_forearm">
    <inertial>
      <mass value="1.4604487031386884"/>
      <origin xyz="-0.018553263328673478 0.0023119252259846124 -0.08919372240797706" rpy="0 -0 0"/>
      <inertia ixx="0.009999999999999998" ixy="0" ixz="0" iyy="0.010000000000000002" iyz="0" izz="0.01"/>
    </inertial>
    <visual>
      <origin xyz="0 0 0" rpy="0 -0 0"/>
      <geometry>
        <mesh filename="package://ergoCub/meshes/simmechanics/sim_ecub_1-1_l_forearm.stl" scale="0.001 0.001 0.001"/>
      </geometry>
      <material name="">
        <color rgba="1 1 1 1"/>
      </material>
    </visual>
  </link>
  <joint name="l_wrist_yaw" type="revolute">
    <origin xyz="-0.01499999999999258 0.002000000000000668 -0.1943500000000012" rpy="-4.440892098500634e-16 -7.657069422961627e-14 -1.1102230246251595e-16"/>
    <axis xyz="-3.017724958809256e-14 3.108624468950438e-15 -0.9999999999999982"/>
    <parent link="l_forearm"/>
    <child link="l_wrist_1"/>
    <limit lower="-1.6057029118347832" upper="1.6057029118347832" effort="1e+9" velocity="1e+9"/>
    <dynamics damping="2" friction="0"/>
  </joint>
  <link name="l_wrist_1">
    <inertial>
      <mass value="0.1226928"/>
      <origin xyz="1.4545073498396788e-4 -1.5595311920038601e-4 0.022377795694245" rpy="0 -0 0"/>
      <inertia ixx="0.01" ixy="0" ixz="0" iyy="0.01" iyz="0" izz="0.01"/>
    </inertial>
    <visual>
      <origin xyz="0 0 0" rpy="0 -0 0"/>
      <geometry>
        <mesh filename="package://ergoCub/meshes/simmechanics/sim_ecub_1-1_l_wrist_1.stl" scale="0.001 0.001 0.001"/>
      </geometry>
      <material name="">
        <color rgba="0.6 0.6 0.6 1"/>
      </material>
    </visual>
  </link>
  <joint name="l_wrist_roll" type="revolute">
    <origin xyz="5.204170427930421e-17 2.498001805406602e-16 -8.326672684688674e-17" rpy="6.10622663543836e-16 1.249000902703301e-16 -4.440892098500625e-16"/>
    <axis xyz="-1.0000000000000002 4.909267437014364e-16 -2.1510571102112398e-16"/>
    <parent link="l_wrist_1"/>
    <child link="l_wrist_2"/>
    <limit lower="-0.3490658503988659" upper="0.5235987755982988" effort="1e+9" velocity="1e+9"/>
    <dynamics damping="2" friction="0"/>
  </joint>
  <link name="l_wrist_2">
    <inertial>
      <mass value="0.02118836"/>
      <origin xyz="-7.4183919215875535e-9 -7.897157534373368e-4 -0.0046969679508168105" rpy="0 -0 0"/>
      <inertia ixx="0.01" ixy="0" ixz="0" iyy="0.01" iyz="0" izz="0.01"/>
    </inertial>
    <visual>
      <origin xyz="0 0 0" rpy="0 -0 0"/>
      <geometry>
        <mesh filename="package://ergoCub/meshes/simmechanics/sim_ecub_1-1_l_wrist_2.stl" scale="0.001 0.001 0.001"/>
      </geometry>
      <material name="">
        <color rgba="0.5 0.5 0.5 1"/>
      </material>
    </visual>
  </link>
  <joint name="l_wrist_pitch" type="revolute">
    <origin xyz="-1.249000902703301e-16 -2.498001805406602e-16 1.1102230246251565e-16" rpy="2.4980018054066017e-16 1.2906342661267445e-15 0"/>
    <axis xyz="8.847089727481738e-17 -1.0000000000000002 -7.216449660063517e-16"/>
    <parent link="l_wrist_2"/>
    <child link="l_hand_palm"/>
    <limit lower="-0.3490658503988659" upper="0.3490658503988659" effort="1e+9" velocity="1e+9"/>
    <dynamics damping="2" friction="0"/>
  </joint>
  <link name="l_hand_palm">
    <inertial>
      <mass value="0.20364988213680776"/>
      <origin xyz="-0.003950502224178115 0.0019881930945492288 -0.058015852438740544" rpy="0 -0 0"/>
      <inertia ixx="0.01" ixy="0" ixz="0" iyy="0.01" iyz="0" izz="0.01"/>
    </inertial>
    <visual>
      <origin xyz="0 0 0" rpy="0 -0 0"/>
      <geometry>
        <mesh filename="package://ergoCub/meshes/simmechanics/sim_ecub_1-1_l_hand_palm.stl" scale="0.001 0.001 0.001"/>
      </geometry>
      <material name="">
        <color rgba="1 1 1 1"/>
      </material>
    </visual>
  </link>
  <joint name="l_index_add" type="revolute">
    <origin xyz="0.022499999999999958 -0.0015000000000005842 -0.06859999999999963" rpy="-1.2770461711840297e-15 -0.29670597283903727 0"/>
    <axis xyz="1.1340225320629768e-15 1.0000000000000002 -1.5371148621453145e-15"/>
    <parent link="l_hand_palm"/>
    <child link="l_hand_index_1"/>
    <limit lower="0" upper="0.2617993877991494" effort="1e+9" velocity="1e+9"/>
    <dynamics damping="2" friction="0"/>
  </joint>
  <link name="l_hand_index_1">
    <inertial>
      <mass value="0.01923264"/>
      <origin xyz="0.008430306749277854 0.0038510231844406384 -0.017148502808541133" rpy="0 -0 0"/>
      <inertia ixx="0.01" ixy="0" ixz="0" iyy="0.01" iyz="0" izz="0.01"/>
    </inertial>
    <visual>
      <origin xyz="0 0 0" rpy="0 -0 0"/>
      <geometry>
        <mesh filename="package://ergoCub/meshes/simmechanics/sim_ecub_1-1_l_hand_index_1.stl" scale="0.001 0.001 0.001"/>
      </geometry>
      <material name="">
        <color rgba="0.5 0.5 0.5 1"/>
      </material>
    </visual>
  </link>
  <joint name="l_middle_prox" type="revolute">
    <origin xyz="0.009599999999999831 -0.0015000000000003344 -0.10299999999999979" rpy="5.479727762271211e-4 2.1718737919229625e-15 -7.771561172376094e-16"/>
    <axis xyz="-1.0000000000000002 2.1649260580330972e-16 3.4413606693588236e-15"/>
    <parent link="l_hand_palm"/>
    <child link="l_hand_middle_1"/>
    <limit lower="0.10035643198967395" upper="1.710422666954443" effort="1e+9" velocity="1e+9"/>
    <dynamics damping="2" friction="0"/>
  </joint>
  <link name="l_hand_middle_1">
    <inertial>
      <mass value="0.007486366"/>
      <origin xyz="5.609414423399586e-5 0.0010938363913530202 -0.0174225309754375" rpy="0 -0 0"/>
      <inertia ixx="0.01" ixy="0" ixz="0" iyy="0.01" iyz="0" izz="0.01"/>
    </inertial>
    <visual>
      <origin xyz="0 0 0" rpy="0 -0 0"/>
      <geometry>
        <mesh filename="package://ergoCub/meshes/simmechanics/sim_ecub_1-1_l_hand_middle_1.stl" scale="0.001 0.001 0.001"/>
      </geometry>
      <material name="">
        <color rgba="0.5 0.5 0.5 1"/>
      </material>
    </visual>
  </link>
  <joint name="l_pinkie_prox" type="revolute">
    <origin xyz="-0.035982322249527375 -0.0023883158589563247 -0.09206560929209864" rpy="-1.9934661458166675e-5 0.08728175651239324 0.026187612448125907"/>
    <axis xyz="-0.9999999998538296 7.644772463701357e-6 -1.529375771086583e-5"/>
    <parent link="l_hand_palm"/>
    <child link="l_hand_pinkie_1"/>
    <limit lower="0.10035643198967395" upper="1.710422666954443" effort="1e+9" velocity="1e+9"/>
    <dynamics damping="2" friction="0"/>
  </joint>
  <link name="l_hand_pinkie_1">
    <inertial>
      <mass value="0.006357586"/>
      <origin xyz="3.6554577562467744e-5 0.0012135491682558897 -0.015052861815374408" rpy="0 -0 0"/>
      <inertia ixx="0.01" ixy="0" ixz="0" iyy="0.01" iyz="0" izz="0.01"/>
    </inertial>
    <visual>
      <origin xyz="0 0 0" rpy="0 -0 0"/>
      <geometry>
        <mesh filename="package://ergoCub/meshes/simmechanics/sim_ecub_1-1_l_hand_pinkie_1.stl" scale="0.001 0.001 0.001"/>
      </geometry>
      <material name="">
        <color rgba="0.5 0.5 0.5 1"/>
      </material>
    </visual>
  </link>
  <joint name="l_ring_prox" type="revolute">
    <origin xyz="-0.015417755558120076 -0.0018498137284708727 -0.09788067183884427" rpy="-4.001826366291962e-5 0.0872664625997326 0.02617993877991448"/>
    <axis xyz="-1.0000000000000004 4.112937881982706e-17 3.1780134079895106e-15"/>
    <parent link="l_hand_palm"/>
    <child link="l_hand_ring_1"/>
    <limit lower="0.10035643198967395" upper="1.710422666954443" effort="1e+9" velocity="1e+9"/>
    <dynamics damping="2" friction="0"/>
  </joint>
  <link name="l_hand_ring_1">
    <inertial>
      <mass value="0.007486366"/>
      <origin xyz="5.610953414397422e-5 0.001113903955753115 -0.017428756834488968" rpy="0 -0 0"/>
      <inertia ixx="0.01" ixy="0" ixz="0" iyy="0.01" iyz="0" izz="0.01"/>
    </inertial>
    <visual>
      <origin xyz="0 0 0" rpy="0 -0 0"/>
      <geometry>
        <mesh filename="package://ergoCub/meshes/simmechanics/sim_ecub_1-1_l_hand_ring_1.stl" scale="0.001 0.001 0.001"/>
      </geometry>
      <material name="">
        <color rgba="0.5 0.5 0.5 1"/>
      </material>
    </visual>
  </link>
  <joint name="l_thumb_add" type="revolute">
    <origin xyz="0.023374863256390876 -0.003000000000000086 -0.03452383847355481" rpy="-0.04044970061859032 0.22331918636553522 2.9608435412698357"/>
    <axis xyz="1.0547118733938987e-15 3.7470027081099033e-16 -1"/>
    <parent link="l_hand_palm"/>
    <child link="l_hand_thumb_1"/>
    <limit lower="0" upper="1.7453292519943295" effort="1e+9" velocity="1e+9"/>
    <dynamics damping="2" friction="0"/>
  </joint>
  <link name="l_hand_thumb_1">
    <inertial>
      <mass value="0.029029542280278556"/>
      <origin xyz="-0.018039176431428286 -0.0028662725726853466 0.0021177719486905056" rpy="0 -0 0"/>
      <inertia ixx="0.01" ixy="0" ixz="0" iyy="0.01" iyz="0" izz="0.01"/>
    </inertial>
    <visual>
      <origin xyz="0 0 0" rpy="0 -0 0"/>
      <geometry>
        <mesh filename="package://ergoCub/meshes/simmechanics/sim_ecub_1-1_l_hand_thumb_1.stl" scale="0.001 0.001 0.001"/>
      </geometry>
      <material name="">
        <color rgba="0.5 0.5 0.5 1"/>
      </material>
    </visual>
  </link>
  <joint name="l_thumb_prox" type="revolute">
    <origin xyz="-0.03809319745034625 -0.003259193858544507 -0.0036017448037204414" rpy="1.4305744121725203 -0.19703059799949255 1.5984202269739936"/>
    <axis xyz="-0.9999999999999996 1.5642265260851218e-11 1.7937444932170088e-10"/>
    <parent link="l_hand_thumb_1"/>
    <child link="l_hand_thumb_2"/>
    <limit lower="0.06335545184739416" upper="1.710422666954443" effort="1e+9" velocity="1e+9"/>
    <dynamics damping="2" friction="0"/>
  </joint>
  <link name="l_hand_thumb_2">
    <inertial>
      <mass value="0.00744305878263309"/>
      <origin xyz="1.1691393252494242e-5 3.0451625727886955e-4 -0.014894613059881514" rpy="0 -0 0"/>
      <inertia ixx="0.01" ixy="0" ixz="0" iyy="0.01" iyz="0" izz="0.01"/>
    </inertial>
    <visual>
      <origin xyz="0 0 0" rpy="0 -0 0"/>
      <geometry>
        <mesh filename="package://ergoCub/meshes/simmechanics/sim_ecub_1-1_l_hand_thumb_2.stl" scale="0.001 0.001 0.001"/>
      </geometry>
      <material name="">
        <color rgba="0.5 0.5 0.5 1"/>
      </material>
    </visual>
  </link>
  <joint name="l_thumb_dist" type="revolute">
    <origin xyz="-2.7755575615628914e-17 -0.0037106254246525305 -0.03483505790088372" rpy="-0.06328877097668187 3.885780586188048e-16 3.0045410603918315e-15"/>
    <axis xyz="-0.9999999999999994 4.264221274732777e-12 1.800057093249481e-10"/>
    <parent link="l_hand_thumb_2"/>
    <child link="l_hand_thumb_3"/>
    <limit lower="0" upper="1.7763961126798287" effort="1e+9" velocity="1e+9"/>
    <dynamics damping="2" friction="0"/>
  </joint>
  <link name="l_hand_thumb_3">
    <inertial>
      <mass value="0.00839103052424309"/>
      <origin xyz="-2.8909987974501394e-5 0.0027777675147018788 -0.016956792352400222" rpy="0 -0 0"/>
      <inertia ixx="0.01" ixy="0" ixz="0" iyy="0.01" iyz="0" izz="0.01"/>
    </inertial>
    <visual>
      <origin xyz="0 0 0" rpy="0 -0 0"/>
      <geometry>
        <mesh filename="package://ergoCub/meshes/simmechanics/sim_ecub_1-1_l_hand_thumb_3.stl" scale="0.001 0.001 0.001"/>
      </geometry>
      <material name="">
        <color rgba="0.5 0.5 0.5 1"/>
      </material>
    </visual>
  </link>
  <joint name="l_ring_dist" type="revolute">
    <origin xyz="4.336808689942018e-18 -0.0015000000000000568 -0.03999999999999998" rpy="-1.20443076919931e-4 -9.020562075079397e-17 -1.6653345369377348e-16"/>
    <axis xyz="-1 2.0175109686126877e-15 -2.981495021006039e-16"/>
    <parent link="l_hand_ring_1"/>
    <child link="l_hand_ring_2"/>
    <limit lower="0" upper="1.7165313193364231" effort="1e+9" velocity="1e+9"/>
    <dynamics damping="2" friction="0"/>
  </joint>
  <link name="l_hand_ring_2">
    <inertial>
      <mass value="0.007251413"/>
      <origin xyz="4.433654030530642e-5 0.0027546754597598533 -0.01889085949732494" rpy="0 -0 0"/>
      <inertia ixx="0.01" ixy="0" ixz="0" iyy="0.01" iyz="0" izz="0.01"/>
    </inertial>
    <visual>
      <origin xyz="0 0 0" rpy="0 -0 0"/>
      <geometry>
        <mesh filename="package://ergoCub/meshes/simmechanics/sim_ecub_1-1_l_hand_ring_2.stl" scale="0.001 0.001 0.001"/>
      </geometry>
      <material name="">
        <color rgba="0.5 0.5 0.5 1"/>
      </material>
    </visual>
  </link>
  <joint name="l_pinkie_dist" type="revolute">
    <origin xyz="3.469446951953614e-18 -0.0014999999959518229 -0.03500000000409326" rpy="-4.438681163529753e-5 4.85722573273506e-17 -1.3877787807814457e-16"/>
    <axis xyz="-0.9999999998538293 7.645451295729698e-6 -1.5293418371143082e-5"/>
    <parent link="l_hand_pinkie_1"/>
    <child link="l_hand_pinkie_2"/>
    <limit lower="0.04852015320544236" upper="1.7763961126798287" effort="1e+9" velocity="1e+9"/>
    <dynamics damping="2" friction="0"/>
  </joint>
  <link name="l_hand_pinkie_2">
    <inertial>
      <mass value="0.007240237"/>
      <origin xyz="2.2378292628411067e-5 0.0027712834790767915 -0.018930353878106154" rpy="0 -0 0"/>
      <inertia ixx="0.01" ixy="0" ixz="0" iyy="0.01" iyz="0" izz="0.01"/>
    </inertial>
    <visual>
      <origin xyz="0 0 0" rpy="0 -0 0"/>
      <geometry>
        <mesh filename="package://ergoCub/meshes/simmechanics/sim_ecub_1-1_l_hand_pinkie_2.stl" scale="0.001 0.001 0.001"/>
      </geometry>
      <material name="">
        <color rgba="0.5 0.5 0.5 1"/>
      </material>
    </visual>
  </link>
  <joint name="l_middle_dist" type="revolute">
    <origin xyz="-3.122502256758253e-17 -0.0015000000000000568 -0.040000000000000036" rpy="0.017535706372654558 -5.551115123125783e-17 -2.220446049250313e-16"/>
    <axis xyz="-1 -3.2532464018194217e-16 -3.071734612871575e-15"/>
    <parent link="l_hand_middle_1"/>
    <child link="l_hand_middle_2"/>
    <limit lower="0" upper="1.7165313193364231" effort="1e+9" velocity="1e+9"/>
    <dynamics damping="2" friction="0"/>
  </joint>
  <link name="l_hand_middle_2">
    <inertial>
      <mass value="0.007251413"/>
      <origin xyz="4.4316320155644157e-5 0.0027547229469275236 -0.018890877319942878" rpy="0 -0 0"/>
      <inertia ixx="0.01" ixy="0" ixz="0" iyy="0.01" iyz="0" izz="0.01"/>
    </inertial>
    <visual>
      <origin xyz="0 0 0" rpy="0 -0 0"/>
      <geometry>
        <mesh filename="package://ergoCub/meshes/simmechanics/sim_ecub_1-1_l_hand_middle_2.stl" scale="0.001 0.001 0.001"/>
      </geometry>
      <material name="">
        <color rgba="0.5 0.5 0.5 1"/>
      </material>
    </visual>
  </link>
  <joint name="l_index_prox" type="revolute">
    <origin xyz="0.009192533317427629 1.3877787807814457e-16 -0.030713451316238316" rpy="-1.1542722333501843e-10 2.983724378680108e-16 -5.5511151231257815e-17"/>
    <axis xyz="-1.0000000000000002 8.604228435847115e-16 3.871902798460328e-15"/>
    <parent link="l_hand_index_1"/>
    <child link="l_hand_index_2"/>
    <limit lower="0.10035643198967395" upper="1.710422666954443" effort="1e+9" velocity="1e+9"/>
    <dynamics damping="2" friction="0"/>
  </joint>
  <link name="l_hand_index_2">
    <inertial>
      <mass value="0.007486366"/>
      <origin xyz="5.6100110941745274e-5 0.001113133191428639 -0.01742880406449937" rpy="0 -0 0"/>
      <inertia ixx="0.01" ixy="0" ixz="0" iyy="0.01" iyz="0" izz="0.01"/>
    </inertial>
    <visual>
      <origin xyz="0 0 0" rpy="0 -0 0"/>
      <geometry>
        <mesh filename="package://ergoCub/meshes/simmechanics/sim_ecub_1-1_l_hand_index_2.stl" scale="0.001 0.001 0.001"/>
      </geometry>
      <material name="">
        <color rgba="0.5 0.5 0.5 1"/>
      </material>
    </visual>
  </link>
  <joint name="l_index_dist" type="revolute">
    <origin xyz="2.7755575615628914e-17 -0.0015000000000000568 -0.039999999999999925" rpy="-7.48138204997862e-8 4.85722573273506e-17 -2.7755575615628914e-16"/>
    <axis xyz="-1 -1.387781272582254e-17 5.551115849900924e-17"/>
    <parent link="l_hand_index_2"/>
    <child link="l_hand_index_3"/>
    <limit lower="0" upper="1.7165313193364231" effort="1e+9" velocity="1e+9"/>
    <dynamics damping="2" friction="0"/>
  </joint>
  <link name="l_hand_index_3">
    <inertial>
      <mass value="0.007251413"/>
      <origin xyz="4.431356673249148e-5 0.0027546711855188366 -0.018890916917498335" rpy="0 -0 0"/>
      <inertia ixx="0.01" ixy="0" ixz="0" iyy="0.01" iyz="0" izz="0.01"/>
    </inertial>
    <visual>
      <origin xyz="0 0 0" rpy="0 -0 0"/>
      <geometry>
        <mesh filename="package://ergoCub/meshes/simmechanics/sim_ecub_1-1_l_hand_index_3.stl" scale="0.001 0.001 0.001"/>
      </geometry>
      <material name="">
        <color rgba="0.5 0.5 0.5 1"/>
      </material>
    </visual>
  </link>
  <joint name="r_hip_roll" type="revolute">
    <origin xyz="-0.047250000000000625 -0.033099999999999824 -0.009000000000000091" rpy="-2.73316156054826e-16 2.504641391024977e-16 -3.1036377681447894e-15"/>
    <axis xyz="-1 -3.3813287685016297e-16 -7.120227705451219e-17"/>
    <parent link="r_hip_1"/>
    <child link="r_hip_2"/>
    <limit lower="-0.3490658503988659" upper="1.9373154697137058" effort="1e+9" velocity="1e+9"/>
    <dynamics damping="2" friction="0"/>
  </joint>
  <link name="r_hip_2">
    <inertial>
      <mass value="1.8425374083524118"/>
      <origin xyz="-0.004338858395569037 -4.276785411407025e-5 -0.03711583728304848" rpy="0 -0 0"/>
      <inertia ixx="0.003120303249647105" ixy="2.3735315120274186e-6" ixz="0.0010124685247925123" iyy="0.005459166113270065" iyz="-1.8523984061140002e-6" izz="0.003419002844852166"/>
    </inertial>
    <visual>
      <origin xyz="0 0 0" rpy="0 -0 0"/>
      <geometry>
        <mesh filename="package://ergoCub/meshes/simmechanics/sim_ecub_1-1_r_hip_2.stl" scale="0.001 0.001 0.001"/>
      </geometry>
      <material name="">
        <color rgba="0.6 0.6 0.6 1"/>
      </material>
    </visual>
  </link>
  <joint name="r_leg_ft_sensor" type="fixed">
    <origin xyz="0.036699999999999976 -5.551115123125783e-17 -0.08969999999999992" rpy="-1.3775953441385743e-15 5.490828022886651e-16 1.6105578736269433e-15"/>
    <parent link="r_hip_2"/>
    <child link="r_hip_3"/>
  </joint>
  <link name="r_hip_3">
    <inertial>
      <mass value="2.147900058066585"/>
      <origin xyz="0.0051510124501743006 0.012832092744145235 -0.05168842502826221" rpy="0 -0 0"/>
      <inertia ixx="0.007193177523135792" ixy="3.498727117566612e-5" ixz="2.4096738440560362e-5" iyy="0.008149001665389528" iyz="-1.2572783372468582e-4" izz="0.0057278283877820494"/>
    </inertial>
    <visual>
      <origin xyz="0 0 0" rpy="0 -0 0"/>
      <geometry>
        <mesh filename="package://ergoCub/meshes/simmechanics/sim_ecub_1-1_r_hip_3.stl" scale="0.001 0.001 0.001"/>
      </geometry>
      <material name="">
        <color rgba="1 1 1 1"/>
      </material>
    </visual>
  </link>
  <joint name="r_hip_yaw" type="revolute">
    <origin xyz="-2.8275992658421956e-16 0.014999999999999764 -0.07269999999999871" rpy="-3.9451416337953255e-15 7.430123072146073e-16 1.2193157749540274e-6"/>
    <axis xyz="-2.3953050245594653e-20 1.4749328491810898e-15 -1"/>
    <parent link="r_hip_3"/>
    <child link="r_upper_leg"/>
    <limit lower="-1.413716694115407" upper="1.413716694115407" effort="1e+9" velocity="1e+9"/>
    <dynamics damping="2" friction="0"/>
  </joint>
  <link name="r_upper_leg">
    <inertial>
      <mass value="2.784923431729287"/>
      <origin xyz="0.008517474024287675 -0.014468465702474021 -0.12674960557185616" rpy="0 -0 0"/>
      <inertia ixx="0.01186013252999811" ixy="5.455450241372543e-5" ixz="5.393573740676933e-4" iyy="0.01210913335208505" iyz="-4.0331041015476653e-4" izz="0.0022609706907693243"/>
    </inertial>
    <visual>
      <origin xyz="0 0 0" rpy="0 -0 0"/>
      <geometry>
        <mesh filename="package://ergoCub/meshes/simmechanics/sim_ecub_1-1_r_upper_leg.stl" scale="0.001 0.001 0.001"/>
      </geometry>
      <material name="">
        <color rgba="0.6 0.6 0.6 1"/>
      </material>
    </visual>
  </link>
  <joint name="r_knee" type="revolute">
    <origin xyz="0.01060000963260985 0.00789998707525931 -0.17970000000000058" rpy="6.892643261935339e-14 -6.650159361880639e-14 -1.219315770090442e-6"/>
    <axis xyz="1.2193157766326317e-6 -0.9999999999992567 4.719551160658935e-15"/>
    <parent link="r_upper_leg"/>
    <child link="r_lower_leg"/>
    <limit lower="-1.8325957145940461" upper="0.12217304763960307" effort="1e+9" velocity="1e+9"/>
    <dynamics damping="2" friction="0"/>
  </joint>
  <link name="r_lower_leg">
    <inertial>
      <mass value="3.7621532589747924"/>
      <origin xyz="0.0012157689164458522 -0.006184734585333342 -0.21372759879868175" rpy="0 -0 0"/>
      <inertia ixx="0.04644215616821937" ixy="3.7269274872175814e-5" ixz="-8.519885904633137e-4" iyy="0.047738936736850285" iyz="-0.0018042981721195497" izz="0.004839671863500647"/>
    </inertial>
    <visual>
      <origin xyz="0 0 0" rpy="0 -0 0"/>
      <geometry>
        <mesh filename="package://ergoCub/meshes/simmechanics/sim_ecub_1-1_r_lower_leg.stl" scale="0.001 0.001 0.001"/>
      </geometry>
      <material name="">
        <color rgba="1 1 1 1"/>
      </material>
    </visual>
  </link>
  <joint name="r_ankle_pitch" type="revolute">
    <origin xyz="-5.936223734792634e-15 -0.03190000000000005 -0.3210000000000002" rpy="-2.9932805576414174e-15 -2.0242047360524565e-14 8.880636788937802e-17"/>
    <axis xyz="-3.505264366441263e-17 1 -1.331317022347139e-16"/>
    <parent link="r_lower_leg"/>
    <child link="r_ankle_1"/>
    <limit lower="-0.7853981633974483" upper="0.7853981633974483" effort="1e+9" velocity="1e+9"/>
    <dynamics damping="2" friction="0"/>
  </joint>
  <link name="r_ankle_1">
    <inertial>
      <mass value="0.3481278950635556"/>
      <origin xyz="-0.0013672309746954776 -6.60186959019704e-4 -0.014087432401547305" rpy="0 -0 0"/>
      <inertia ixx="0.01" ixy="0" ixz="0" iyy="0.01" iyz="0" izz="0.01"/>
    </inertial>
    <visual>
      <origin xyz="0 0 0" rpy="0 -0 0"/>
      <geometry>
        <mesh filename="package://ergoCub/meshes/simmechanics/sim_ecub_1-1_r_ankle_1.stl" scale="0.001 0.001 0.001"/>
      </geometry>
      <material name="">
        <color rgba="0.6 0.6 0.6 1"/>
      </material>
    </visual>
  </link>
  <joint name="r_ankle_roll" type="revolute">
    <origin xyz="-0.052750000000001546 0.018200000000000008 -0.0349999999999977" rpy="-1.0176053241861382e-24 3.8838282931741325e-14 -9.278622199115707e-23"/>
    <axis xyz="-1 -1.628246671334752e-16 2.560295622560413e-15"/>
    <parent link="r_ankle_1"/>
    <child link="r_ankle_2"/>
    <limit lower="-0.4363323129985824" upper="0.4363323129985824" effort="1e+9" velocity="1e+9"/>
    <dynamics damping="2" friction="0"/>
  </joint>
  <link name="r_ankle_2">
    <inertial>
      <mass value="1.5418216247038539"/>
      <origin xyz="0.04052646811695935 -8.642493098851012e-5 -0.023871143533700234" rpy="0 -0 0"/>
      <inertia ixx="0.01" ixy="0" ixz="0" iyy="0.009999999999999998" iyz="0" izz="0.01"/>
    </inertial>
    <visual>
      <origin xyz="0 0 0" rpy="0 -0 0"/>
      <geometry>
        <mesh filename="package://ergoCub/meshes/simmechanics/sim_ecub_1-1_r_ankle_2.stl" scale="0.001 0.001 0.001"/>
      </geometry>
      <material name="">
        <color rgba="1 1 1 1"/>
      </material>
    </visual>
  </link>
  <joint name="r_foot_front_ft_sensor" type="fixed">
    <origin xyz="0.13525000000000004 0 -0.04789999999999972" rpy="2.6613913647124785e-17 -9.20811369242055e-17 -1.4551888385804406e-15"/>
    <parent link="r_ankle_2"/>
    <child link="r_foot_front"/>
  </joint>
  <link name="r_foot_front">
    <inertial>
      <mass value="0.22110467939552797"/>
      <origin xyz="5.879202911245884e-4 -3.747924692820703e-9 -0.02000061661590058" rpy="0 -0 0"/>
      <inertia ixx="0.009999999999999998" ixy="0" ixz="0" iyy="0.01" iyz="0" izz="0.01"/>
    </inertial>
    <visual>
      <origin xyz="0 0 0" rpy="0 -0 0"/>
      <geometry>
        <mesh filename="package://ergoCub/meshes/simmechanics/sim_ecub_1-1_r_foot_front.stl" scale="0.001 0.001 0.001"/>
      </geometry>
      <material name="">
        <color rgba="1 0.51 0 1"/>
      </material>
    </visual>
    <collision>
      <origin xyz="0 0 -0.0193" rpy="0 -0 0"/>
      <geometry>
        <box size="0.117 0.1 0.006"/>
      </geometry>
    </collision>
  </link>
  <joint name="r_foot_rear_ft_sensor" type="fixed">
    <origin xyz="0.016 0 -0.04789999999999961" rpy="2.6613913647112164e-17 -9.208113692420588e-17 -1.566211141042955e-15"/>
    <parent link="r_ankle_2"/>
    <child link="r_foot_rear"/>
  </joint>
  <link name="r_foot_rear">
    <inertial>
      <mass value="0.22110467939552797"/>
      <origin xyz="5.879202911244878e-4 -3.747924665065128e-9 -0.020000616615901023" rpy="0 -0 0"/>
      <inertia ixx="0.01" ixy="0" ixz="0" iyy="0.01" iyz="0" izz="0.01"/>
    </inertial>
    <visual>
      <origin xyz="0 0 0" rpy="0 -0 0"/>
      <geometry>
        <mesh filename="package://ergoCub/meshes/simmechanics/sim_ecub_1-1_r_foot_rear.stl" scale="0.001 0.001 0.001"/>
      </geometry>
      <material name="">
        <color rgba="1 0.51 0 1"/>
      </material>
    </visual>
    <collision>
      <origin xyz="0 0 -0.0193" rpy="0 -0 0"/>
      <geometry>
        <box size="0.117 0.1 0.006"/>
      </geometry>
    </collision>
  </link>
  <joint name="l_hip_roll" type="revolute">
    <origin xyz="-0.04725000000000078 0.033100000000000004 -0.009000000000000119" rpy="7.584245024416732e-16 1.5745686587446743e-30 1.1102230246251548e-16"/>
    <axis xyz="1 -6.123233995736708e-17 6.3201403498236e-16"/>
    <parent link="l_hip_1"/>
    <child link="l_hip_2"/>
    <limit lower="-0.3490658503988659" upper="1.9373154697137058" effort="1e+9" velocity="1e+9"/>
    <dynamics damping="2" friction="0"/>
  </joint>
  <link name="l_hip_2">
    <inertial>
      <mass value="1.8338392164825101"/>
      <origin xyz="-0.004125697068299468 3.917475804632309e-5 -0.03750964603556273" rpy="0 -0 0"/>
      <inertia ixx="0.003159514595905926" ixy="-1.6542815235215681e-6" ixz="9.977368607484037e-4" iyy="0.005488243677251951" iyz="-2.1904093887368695e-6" izz="0.0033984945726571185"/>
    </inertial>
    <visual>
      <origin xyz="0 0 0" rpy="0 -0 0"/>
      <geometry>
        <mesh filename="package://ergoCub/meshes/simmechanics/sim_ecub_1-1_l_hip_2.stl" scale="0.001 0.001 0.001"/>
      </geometry>
      <material name="">
        <color rgba="0.6 0.6 0.6 1"/>
      </material>
    </visual>
  </link>
  <joint name="l_leg_ft_sensor" type="fixed">
    <origin xyz="0.036699999999999844 -1.3877787807814457e-17 -0.08970000000000003" rpy="-1.1075796462727634e-15 -1.9903300580169828e-30 2.775557561562846e-16"/>
    <parent link="l_hip_2"/>
    <child link="l_hip_3"/>
  </joint>
  <link name="l_hip_3">
    <inertial>
      <mass value="2.147524084050246"/>
      <origin xyz="0.005176125839593024 -0.01282881302682233 -0.05174852447453404" rpy="0 -0 0"/>
      <inertia ixx="0.007242161971060034" ixy="-3.321392954197042e-5" ixz="2.505985505401264e-5" iyy="0.008197962692605146" iyz="1.2474874840596051e-4" izz="0.005727458772759987"/>
    </inertial>
    <visual>
      <origin xyz="0 0 0" rpy="0 -0 0"/>
      <geometry>
        <mesh filename="package://ergoCub/meshes/simmechanics/sim_ecub_1-1_l_hip_3.stl" scale="0.001 0.001 0.001"/>
      </geometry>
      <material name="">
        <color rgba="1 1 1 1"/>
      </material>
    </visual>
  </link>
  <joint name="l_hip_yaw" type="revolute">
    <origin xyz="-8.396061623727746e-16 -0.014999999999999944 -0.07269999999999993" rpy="3.0118838875648327e-16 1.1431429037212378e-14 -2.775557561562751e-16"/>
    <axis xyz="-8.622588011769357e-16 1.5936665473077025e-16 1"/>
    <parent link="l_hip_3"/>
    <child link="l_upper_leg"/>
    <limit lower="-1.413716694115407" upper="1.413716694115407" effort="1e+9" velocity="1e+9"/>
    <dynamics damping="2" friction="0"/>
  </joint>
  <link name="l_upper_leg">
    <inertial>
      <mass value="2.784923431765453"/>
      <origin xyz="0.008503494694160183 0.014484874736048647 -0.12674659802303312" rpy="0 -0 0"/>
      <inertia ixx="0.011852293952284196" ixy="-4.907145319317264e-5" ixz="5.393933817879138e-4" iyy="0.012109807149567942" iyz="3.9208918647670385e-4" izz="0.002253627916731084"/>
    </inertial>
    <visual>
      <origin xyz="0 0 0" rpy="0 -0 0"/>
      <geometry>
        <mesh filename="package://ergoCub/meshes/simmechanics/sim_ecub_1-1_l_upper_leg.stl" scale="0.001 0.001 0.001"/>
      </geometry>
      <material name="">
        <color rgba="0.6 0.6 0.6 1"/>
      </material>
    </visual>
  </link>
  <joint name="l_knee" type="revolute">
    <origin xyz="0.010600000000000822 -0.007900000000000185 -0.17969999999999958" rpy="1.970486418692682e-16 -1.1419428146632273e-14 2.8602839935211434e-15"/>
    <axis xyz="-2.608937546411318e-16 -1 5.166588955193111e-17"/>
    <parent link="l_upper_leg"/>
    <child link="l_lower_leg"/>
    <limit lower="-1.8325957145940461" upper="0.12217304763960307" effort="1e+9" velocity="1e+9"/>
    <dynamics damping="2" friction="0"/>
  </joint>
  <link name="l_lower_leg">
    <inertial>
      <mass value="3.767581145212888"/>
      <origin xyz="0.0014201768088090358 0.006186333743956739 -0.21383298861124922" rpy="0 -0 0"/>
      <inertia ixx="0.04647110900067475" ixy="-2.1189289797886653e-5" ixz="-8.110710215722959e-4" iyy="0.04776726641499918" iyz="0.0018123762001582078" izz="0.004840491251955261"/>
    </inertial>
    <visual>
      <origin xyz="0 0 0" rpy="0 -0 0"/>
      <geometry>
        <mesh filename="package://ergoCub/meshes/simmechanics/sim_ecub_1-1_l_lower_leg.stl" scale="0.001 0.001 0.001"/>
      </geometry>
      <material name="">
        <color rgba="1 1 1 1"/>
      </material>
    </visual>
  </link>
  <joint name="l_ankle_pitch" type="revolute">
    <origin xyz="-4.468647674116255e-15 0.03189999999999981 -0.3209999999999995" rpy="-1.9704864186927032e-16 -8.673617379880112e-19 -1.8683953730959558e-16"/>
    <axis xyz="-2.389602037081462e-16 1 1.4538275231733847e-16"/>
    <parent link="l_lower_leg"/>
    <child link="l_ankle_1"/>
    <limit lower="-0.7853981633974483" upper="0.7853981633974483" effort="1e+9" velocity="1e+9"/>
    <dynamics damping="2" friction="0"/>
  </joint>
  <link name="l_ankle_1">
    <inertial>
      <mass value="0.3481278951519182"/>
      <origin xyz="-0.0013852125067176195 6.601869600093568e-4 -0.014087432474324535" rpy="0 -0 0"/>
      <inertia ixx="0.01" ixy="0" ixz="0" iyy="0.01" iyz="0" izz="0.01"/>
    </inertial>
    <visual>
      <origin xyz="0 0 0" rpy="0 -0 0"/>
      <geometry>
        <mesh filename="package://ergoCub/meshes/simmechanics/sim_ecub_1-1_l_ankle_1.stl" scale="0.001 0.001 0.001"/>
      </geometry>
      <material name="">
        <color rgba="0.6 0.6 0.6 1"/>
      </material>
    </visual>
  </link>
  <joint name="l_ankle_roll" type="revolute">
    <origin xyz="-0.052750000000000324 -0.01819999999999991 -0.03499999999999959" rpy="3.340196646750626e-19 1.1217589357404033e-14 -2.3665827156630354e-30"/>
    <axis xyz="1 -4.05028482201375e-16 -1.2496691978128869e-15"/>
    <parent link="l_ankle_1"/>
    <child link="l_ankle_2"/>
    <limit lower="-0.4363323129985824" upper="0.4363323129985824" effort="1e+9" velocity="1e+9"/>
    <dynamics damping="2" friction="0"/>
  </joint>
  <link name="l_ankle_2">
    <inertial>
      <mass value="1.5418216247038539"/>
      <origin xyz="0.0405224005088543 -9.790751646740482e-5 -0.02387114353368558" rpy="0 -0 0"/>
      <inertia ixx="0.01" ixy="0" ixz="0" iyy="0.010000000000000002" iyz="0" izz="0.01"/>
    </inertial>
    <visual>
      <origin xyz="0 0 0" rpy="0 -0 0"/>
      <geometry>
        <mesh filename="package://ergoCub/meshes/simmechanics/sim_ecub_1-1_l_ankle_2.stl" scale="0.001 0.001 0.001"/>
      </geometry>
      <material name="">
        <color rgba="1 1 1 1"/>
      </material>
    </visual>
  </link>
  <joint name="l_foot_front_ft_sensor" type="fixed">
    <origin xyz="0.13524999999999998 -5.551115123125783e-17 -0.04789999999999894" rpy="-8.997944700177166e-31 1.9428902930939596e-16 -9.788946385468152e-16"/>
    <parent link="l_ankle_2"/>
    <child link="l_foot_front"/>
  </joint>
  <link name="l_foot_front">
    <inertial>
      <mass value="0.22110467939552797"/>
      <origin xyz="5.879202911245329e-4 -3.747924692820703e-9 -0.02000061661590158" rpy="0 -0 0"/>
      <inertia ixx="0.01" ixy="0" ixz="0" iyy="0.01" iyz="0" izz="0.01"/>
    </inertial>
    <visual>
      <origin xyz="0 0 0" rpy="0 -0 0"/>
      <geometry>
        <mesh filename="package://ergoCub/meshes/simmechanics/sim_ecub_1-1_l_foot_front.stl" scale="0.001 0.001 0.001"/>
      </geometry>
      <material name="">
        <color rgba="1 0.51 0 1"/>
      </material>
    </visual>
    <collision>
      <origin xyz="0 0 -0.0193" rpy="0 -0 0"/>
      <geometry>
        <box size="0.117 0.1 0.006"/>
      </geometry>
    </collision>
  </link>
  <joint name="l_foot_rear_ft_sensor" type="fixed">
    <origin xyz="0.015999999999999986 -4.163336342344337e-17 -0.04789999999999994" rpy="-1.0970096963229695e-30 1.942890293093975e-16 2.0306083615826833e-17"/>
    <parent link="l_ankle_2"/>
    <child link="l_foot_rear"/>
  </joint>
  <link name="l_foot_rear">
    <inertial>
      <mass value="0.22110467939552797"/>
      <origin xyz="5.879202911244826e-4 -3.7479246789429155e-9 -0.020000616615901134" rpy="0 -0 0"/>
      <inertia ixx="0.01" ixy="0" ixz="0" iyy="0.01" iyz="0" izz="0.01"/>
    </inertial>
    <visual>
      <origin xyz="0 0 0" rpy="0 -0 0"/>
      <geometry>
        <mesh filename="package://ergoCub/meshes/simmechanics/sim_ecub_1-1_l_foot_rear.stl" scale="0.001 0.001 0.001"/>
      </geometry>
      <material name="">
        <color rgba="1 0.51 0 1"/>
      </material>
    </visual>
    <collision>
      <origin xyz="0 0 -0.0193" rpy="0 -0 0"/>
      <geometry>
        <box size="0.117 0.1 0.006"/>
      </geometry>
    </collision>
  </link>
  <link name="head_imu_0"/>
  <joint name="head_imu_0_fixed_joint" type="fixed">
    <origin xyz="-0.004299999999999899 -0.005500000000001061 0.03823450000000106" rpy="-3.141592653589788 -9.688477917552238e-15 1.5707963267948986"/>
    <parent link="head"/>
    <child link="head_imu_0"/>
  </joint>
  <link name="realsense_imu_0"/>
  <joint name="realsense_imu_0_fixed_joint" type="fixed">
    <origin xyz="0.007515481871156526 0.010000000000000002 1.7352099479506222e-8" rpy="-1.5707963267948966 3.7596758519972983e-16 -1.5707963267948966"/>
    <parent link="realsense"/>
    <child link="realsense_imu_0"/>
  </joint>
  <link name="l_arm_ft"/>
  <joint name="l_arm_ft_fixed_joint" type="fixed">
    <origin xyz="-0.004349999999999996 -2.7755575615628914e-17 -0.054300000000000015" rpy="3.141592653589793 2.498001805406602e-16 -1.5707963267948952"/>
    <parent link="l_shoulder_2"/>
    <child link="l_arm_ft"/>
  </joint>
  <link name="l_foot_front_ft"/>
  <joint name="l_foot_front_ft_fixed_joint" type="fixed">
    <origin xyz="0.13525 -4.163336342344337e-17 -0.047899999999999054" rpy="-4.259189482954547e-17 -7.513330770412076e-17 -2.0943951023931966"/>
    <parent link="l_ankle_2"/>
    <child link="l_foot_front_ft"/>
  </joint>
  <link name="l_foot_rear_ft"/>
  <joint name="l_foot_rear_ft_fixed_joint" type="fixed">
    <origin xyz="0.015999999999999993 -2.7755575615628914e-17 -0.04789999999999983" rpy="-4.259189482954531e-17 -7.513330770412153e-17 -2.0943951023931957"/>
    <parent link="l_ankle_2"/>
    <child link="l_foot_rear_ft"/>
  </joint>
  <link name="l_leg_ft"/>
  <joint name="l_leg_ft_fixed_joint" type="fixed">
    <origin xyz="0.03669999999999986 -1.3877787807814457e-17 -0.08969999999999997" rpy="-3.1415926535897927 -1.4675346083959194e-15 2.617993877991494"/>
    <parent link="l_hip_2"/>
    <child link="l_leg_ft"/>
  </joint>
  <link name="r_arm_ft"/>
  <joint name="r_arm_ft_fixed_joint" type="fixed">
    <origin xyz="-0.006849999999999986 -2.7755575615628914e-17 -0.05429999999999999" rpy="3.141592653589793 1.6653345369377348e-16 1.5707963267948981"/>
    <parent link="r_shoulder_2"/>
    <child link="r_arm_ft"/>
  </joint>
  <link name="r_foot_front_ft"/>
  <joint name="r_foot_front_ft_fixed_joint" type="fixed">
    <origin xyz="0.13525 1.3877787807814457e-17 -0.04789999999999983" rpy="-4.2591894829555776e-17 -7.513330770412949e-17 -2.094395102393197"/>
    <parent link="r_ankle_2"/>
    <child link="r_foot_front_ft"/>
  </joint>
  <link name="r_foot_rear_ft"/>
  <joint name="r_foot_rear_ft_fixed_joint" type="fixed">
    <origin xyz="0.016 1.3877787807814457e-17 -0.04789999999999994" rpy="-4.2591894829543154e-17 -7.513330770412949e-17 -2.0943951023931966"/>
    <parent link="r_ankle_2"/>
    <child link="r_foot_rear_ft"/>
  </joint>
  <link name="r_leg_ft"/>
  <joint name="r_leg_ft_fixed_joint" type="fixed">
    <origin xyz="0.03669999999999999 0 -0.08969999999999997" rpy="-3.1415926535897927 -8.654368135774127e-16 -2.6179938779914935"/>
    <parent link="r_hip_2"/>
    <child link="r_leg_ft"/>
  </joint>
  <link name="realsense_depth_frame"/>
  <joint name="realsense_depth_frame_fixed_joint" type="fixed">
    <origin xyz="0.007515481871156526 0.010000000000000002 1.7352099479506222e-8" rpy="-1.5707963267948966 3.7596758519972983e-16 -1.5707963267948966"/>
    <parent link="realsense"/>
    <child link="realsense_depth_frame"/>
  </joint>
  <link name="imu_frame"/>
  <joint name="imu_frame_fixed_joint" type="fixed">
    <origin xyz="-0.004299999999999899 -0.005500000000001061 0.03823450000000106" rpy="-3.141592653589788 -9.688477917552238e-15 1.5707963267948986"/>
    <parent link="head"/>
    <child link="imu_frame"/>
  </joint>
  <link name="realsense_rgb_frame"/>
  <joint name="realsense_rgb_frame_fixed_joint" type="fixed">
    <origin xyz="0.007515481871156526 -0.011499999999999996 1.7352099701550827e-8" rpy="-1.5707963267948966 3.7596758519972983e-16 -1.5707963267948966"/>
    <parent link="realsense"/>
    <child link="realsense_rgb_frame"/>
  </joint>
  <link name="head_laser_frame"/>
  <joint name="head_laser_frame_fixed_joint" type="fixed">
    <origin xyz="5.000000000061726e-5 -1.938549701738834e-15 0.13480249990363524" rpy="9.721954681893984e-15 5.33156930061495e-15 3.167605067133685e-15"/>
    <parent link="head"/>
    <child link="head_laser_frame"/>
  </joint>
  <link name="l_hand_index_skin_0"/>
  <joint name="l_hand_index_skin_0_fixed_joint" type="fixed">
    <origin xyz="-1.3877787807814457e-17 -0.002433918058236534 -0.03140545777888892" rpy="-5.286130912234566e-16 1.2225055986691187 -1.570796326794897"/>
    <parent link="l_hand_index_3"/>
    <child link="l_hand_index_skin_0"/>
  </joint>
  <link name="l_hand_index_skin_1"/>
  <joint name="l_hand_index_skin_1_fixed_joint" type="fixed">
    <origin xyz="0.0032999999999999974 -0.0031311476143919548 -0.033280418005286916" rpy="-5.049308804587452e-16 1.2200949024613605 -1.570796326794897"/>
    <parent link="l_hand_index_3"/>
    <child link="l_hand_index_skin_1"/>
  </joint>
  <link name="l_hand_index_skin_10"/>
  <joint name="l_hand_index_skin_10_fixed_joint" type="fixed">
    <origin xyz="-0.003300000000000025 -0.004081940988398508 -0.03776668459795801" rpy="-3.1415926535897913 1.5049109712528748 1.5707963267948997"/>
    <parent link="l_hand_index_3"/>
    <child link="l_hand_index_skin_10"/>
  </joint>
  <link name="l_hand_index_skin_11"/>
  <joint name="l_hand_index_skin_11_fixed_joint" type="fixed">
    <origin xyz="-0.0033000000000000113 -0.0031311476143919548 -0.033280418005286916" rpy="-5.049308804587451e-16 1.2200949024613599 -1.570796326794897"/>
    <parent link="l_hand_index_3"/>
    <child link="l_hand_index_skin_11"/>
  </joint>
  <link name="l_hand_index_skin_2"/>
  <joint name="l_hand_index_skin_2_fixed_joint" type="fixed">
    <origin xyz="-6.938893903907228e-18 -0.003758241653579991 -0.035192049408458936" rpy="-6.620570360759466e-16 1.3056813328515076 -1.5707963267948972"/>
    <parent link="l_hand_index_3"/>
    <child link="l_hand_index_skin_2"/>
  </joint>
  <link name="l_hand_index_skin_3"/>
  <joint name="l_hand_index_skin_3_fixed_joint" type="fixed">
    <origin xyz="0.0032999999999999974 -0.004081940988398425 -0.03776668459795801" rpy="-3.1415926535897913 1.5049109712528748 1.5707963267948997"/>
    <parent link="l_hand_index_3"/>
    <child link="l_hand_index_skin_3"/>
  </joint>
  <link name="l_hand_index_skin_4"/>
  <joint name="l_hand_index_skin_4_fixed_joint" type="fixed">
    <origin xyz="0.005929525942276338 -0.001192320688661208 -0.03799999999999998" rpy="3.1415926535897922 1.2994442229713599 2.7771555423255903"/>
    <parent link="l_hand_index_3"/>
    <child link="l_hand_index_skin_4"/>
  </joint>
  <link name="l_hand_index_skin_5"/>
  <joint name="l_hand_index_skin_5_fixed_joint" type="fixed">
    <origin xyz="1.3877787807814457e-17 -0.0034840921633512434 -0.03982136611863335" rpy="-3.1415926535897927 1.088751329798359 1.5707963267948972"/>
    <parent link="l_hand_index_3"/>
    <child link="l_hand_index_skin_5"/>
  </joint>
  <link name="l_hand_index_skin_6"/>
  <joint name="l_hand_index_skin_6_fixed_joint" type="fixed">
    <origin xyz="0.0032999999999999696 -0.001828801718873424 -0.04176963440415199" rpy="3.141592653589793 0.7788155893137823 2.5320677565812"/>
    <parent link="l_hand_index_3"/>
    <child link="l_hand_index_skin_6"/>
  </joint>
  <link name="l_hand_index_skin_7"/>
  <joint name="l_hand_index_skin_7_fixed_joint" type="fixed">
    <origin xyz="-6.938893903907228e-18 -2.9018466437888413e-4 -0.043259640911881" rpy="-3.141592653589793 0.6209480183022732 1.571212482632116"/>
    <parent link="l_hand_index_3"/>
    <child link="l_hand_index_skin_7"/>
  </joint>
  <link name="l_hand_index_skin_8"/>
  <joint name="l_hand_index_skin_8_fixed_joint" type="fixed">
    <origin xyz="-0.003300000000000025 -0.0018288017188733685 -0.041769634404151934" rpy="-3.1415926535897927 0.7788155893137829 0.6095248970085935"/>
    <parent link="l_hand_index_3"/>
    <child link="l_hand_index_skin_8"/>
  </joint>
  <link name="l_hand_index_skin_9"/>
  <joint name="l_hand_index_skin_9_fixed_joint" type="fixed">
    <origin xyz="-0.005929525942276387 -0.001192320688661208 -0.03799999999999998" rpy="-3.141592653589792 1.2994442229713608 0.36443711126420336"/>
    <parent link="l_hand_index_3"/>
    <child link="l_hand_index_skin_9"/>
  </joint>
  <link name="l_hand_middle_skin_0"/>
  <joint name="l_hand_middle_skin_0_fixed_joint" type="fixed">
    <origin xyz="0 -0.002433918058236506 -0.03140545777888887" rpy="1.626501819149097e-16 1.22250559866912 -1.5707963267948966"/>
    <parent link="l_hand_middle_2"/>
    <child link="l_hand_middle_skin_0"/>
  </joint>
  <link name="l_hand_middle_skin_1"/>
  <joint name="l_hand_middle_skin_1_fixed_joint" type="fixed">
    <origin xyz="0.0033000000000000043 -0.003131147614391927 -0.033280418005286805" rpy="1.615778817467984e-16 1.2200949024613614 -1.5707963267948966"/>
    <parent link="l_hand_middle_2"/>
    <child link="l_hand_middle_skin_1"/>
  </joint>
  <link name="l_hand_middle_skin_10"/>
  <joint name="l_hand_middle_skin_10_fixed_joint" type="fixed">
    <origin xyz="-0.003299999999999973 -0.004081940988398425 -0.037766684597957956" rpy="3.1415926535897922 1.5049109712528765 1.5707963267948972"/>
    <parent link="l_hand_middle_2"/>
    <child link="l_hand_middle_skin_10"/>
  </joint>
  <link name="l_hand_middle_skin_11"/>
  <joint name="l_hand_middle_skin_11_fixed_joint" type="fixed">
    <origin xyz="-0.003299999999999994 -0.0031311476143918715 -0.033280418005286805" rpy="1.615778817467984e-16 1.2200949024613614 -1.5707963267948966"/>
    <parent link="l_hand_middle_2"/>
    <child link="l_hand_middle_skin_11"/>
  </joint>
  <link name="l_hand_middle_skin_2"/>
  <joint name="l_hand_middle_skin_2_fixed_joint" type="fixed">
    <origin xyz="-6.938893903907228e-18 -0.0037582416535799634 -0.035192049408458936" rpy="2.118582515443029e-16 1.305681332851508 -1.5707963267948966"/>
    <parent link="l_hand_middle_2"/>
    <child link="l_hand_middle_skin_2"/>
  </joint>
  <link name="l_hand_middle_skin_3"/>
  <joint name="l_hand_middle_skin_3_fixed_joint" type="fixed">
    <origin xyz="0.0033000000000000113 -0.004081940988398369 -0.03776668459795801" rpy="3.1415926535897922 1.5049109712528765 1.5707963267948968"/>
    <parent link="l_hand_middle_2"/>
    <child link="l_hand_middle_skin_3"/>
  </joint>
  <link name="l_hand_middle_skin_4"/>
  <joint name="l_hand_middle_skin_4_fixed_joint" type="fixed">
    <origin xyz="0.005929525942276356 -0.0011923206886611804 -0.03799999999999998" rpy="3.1415926535897922 1.2994442229713614 2.7771555423255903"/>
    <parent link="l_hand_middle_2"/>
    <child link="l_hand_middle_skin_4"/>
  </joint>
  <link name="l_hand_middle_skin_5"/>
  <joint name="l_hand_middle_skin_5_fixed_joint" type="fixed">
    <origin xyz="1.0408340855860843e-17 -0.0034840921633511046 -0.03982136611863335" rpy="3.141592653589793 1.0887513297983595 1.570796326794897"/>
    <parent link="l_hand_middle_2"/>
    <child link="l_hand_middle_skin_5"/>
  </joint>
  <link name="l_hand_middle_skin_6"/>
  <joint name="l_hand_middle_skin_6_fixed_joint" type="fixed">
    <origin xyz="0.003300000000000008 -0.0018288017188733685 -0.04176963440415188" rpy="3.1415926535897927 0.7788155893137828 2.5320677565811995"/>
    <parent link="l_hand_middle_2"/>
    <child link="l_hand_middle_skin_6"/>
  </joint>
  <link name="l_hand_middle_skin_7"/>
  <joint name="l_hand_middle_skin_7_fixed_joint" type="fixed">
    <origin xyz="-3.469446951953614e-18 -2.9018466437885637e-4 -0.04325964091188095" rpy="3.141592653589793 0.6209480183022731 1.571212482632116"/>
    <parent link="l_hand_middle_2"/>
    <child link="l_hand_middle_skin_7"/>
  </joint>
  <link name="l_hand_middle_skin_8"/>
  <joint name="l_hand_middle_skin_8_fixed_joint" type="fixed">
    <origin xyz="-0.003299999999999994 -0.0018288017188733963 -0.041769634404151934" rpy="-3.141592653589793 0.7788155893137828 0.6095248970085932"/>
    <parent link="l_hand_middle_2"/>
    <child link="l_hand_middle_skin_8"/>
  </joint>
  <link name="l_hand_middle_skin_9"/>
  <joint name="l_hand_middle_skin_9_fixed_joint" type="fixed">
    <origin xyz="-0.0059295259422763695 -0.001192320688661208 -0.03799999999999998" rpy="-3.1415926535897922 1.2994442229713608 0.3644371112642029"/>
    <parent link="l_hand_middle_2"/>
    <child link="l_hand_middle_skin_9"/>
  </joint>
  <link name="l_hand_pinkie_skin_0"/>
  <joint name="l_hand_pinkie_skin_0_fixed_joint" type="fixed">
    <origin xyz="1.1364587082021704e-6 -0.0024339180633243807 -0.03140545776518122" rpy="4.4810406990145916e-5 1.222505598463966 -1.5707618523704918"/>
    <parent link="l_hand_pinkie_2"/>
    <child link="l_hand_pinkie_skin_0"/>
  </joint>
  <link name="l_hand_pinkie_skin_1"/>
  <joint name="l_hand_pinkie_skin_1_fixed_joint" type="fixed">
    <origin xyz="0.003301159802142385 -0.003131172849448638 -0.033280367523160825" rpy="4.451498643578038e-5 1.2200949022586114 -1.5707621667995164"/>
    <parent link="l_hand_pinkie_2"/>
    <child link="l_hand_pinkie_skin_1"/>
  </joint>
  <link name="l_hand_pinkie_skin_10"/>
  <joint name="l_hand_pinkie_skin_10_fixed_joint" type="fixed">
    <origin xyz="-0.003298778855785424 -0.004081915763448796 -0.037766735051979805" rpy="3.14136036390978 1.5049109693635563 1.5705568956520668"/>
    <parent link="l_hand_pinkie_2"/>
    <child link="l_hand_pinkie_skin_10"/>
  </joint>
  <link name="l_hand_pinkie_skin_11"/>
  <joint name="l_hand_pinkie_skin_11_fixed_joint" type="fixed">
    <origin xyz="-0.003298840196892895 -0.0031311223894700813 -0.033280468459722046" rpy="4.4514986435780384e-5 1.2200949022586114 -1.5707621667995162"/>
    <parent link="l_hand_pinkie_2"/>
    <child link="l_hand_pinkie_skin_11"/>
  </joint>
  <link name="l_hand_pinkie_skin_2"/>
  <joint name="l_hand_pinkie_skin_2_fixed_joint" type="fixed">
    <origin xyz="1.1842435866243894e-6 -0.0037582416586290635 -0.0351920493944633" rpy="5.8367315429754e-5 1.305681332537708 -1.570747644146057"/>
    <parent link="l_hand_pinkie_2"/>
    <child link="l_hand_pinkie_skin_2"/>
  </joint>
  <link name="l_hand_pinkie_skin_3"/>
  <joint name="l_hand_pinkie_skin_3_fixed_joint" type="fixed">
    <origin xyz="0.0033012211432498564 -0.00408196622342738 -0.03776663411541853" rpy="3.14136036390978 1.5049109693635563 1.5705568956520668"/>
    <parent link="l_hand_pinkie_2"/>
    <child link="l_hand_pinkie_skin_3"/>
  </joint>
  <link name="l_hand_pinkie_skin_4"/>
  <joint name="l_hand_pinkie_skin_4_fixed_joint" type="fixed">
    <origin xyz="0.005930772745783179 -0.0011923660276871306 -0.037999909302654955" rpy="3.141572315440389 1.2994585118923023 2.7771283028717044"/>
    <parent link="l_hand_pinkie_2"/>
    <child link="l_hand_pinkie_skin_4"/>
  </joint>
  <link name="l_hand_pinkie_skin_5"/>
  <joint name="l_hand_pinkie_skin_5_fixed_joint" type="fixed">
    <origin xyz="1.2571376604118834e-6 -0.003484092168408337 -0.03982136610406428" rpy="3.1415596646367674 1.0887513294579219 1.570759451523612"/>
    <parent link="l_hand_pinkie_2"/>
    <child link="l_hand_pinkie_skin_5"/>
  </joint>
  <link name="l_hand_pinkie_skin_6"/>
  <joint name="l_hand_pinkie_skin_6_fixed_joint" type="fixed">
    <origin xyz="0.0033012995883024976 -0.00182882695396816 -0.04176958392088087" rpy="3.1415803523625088 0.7788281285900823 2.532051470238895"/>
    <parent link="l_hand_pinkie_2"/>
    <child link="l_hand_pinkie_skin_6"/>
  </joint>
  <link name="l_hand_pinkie_skin_7"/>
  <joint name="l_hand_pinkie_skin_7_fixed_joint" type="fixed">
    <origin xyz="1.3341394995113054e-6 -2.901846695293475e-4 -0.04325964089653633" rpy="3.141573850067606 0.6209480244661378 1.571193897169884"/>
    <parent link="l_hand_pinkie_2"/>
    <child link="l_hand_pinkie_skin_7"/>
  </joint>
  <link name="l_hand_pinkie_skin_8"/>
  <joint name="l_hand_pinkie_skin_8_fixed_joint" type="fixed">
    <origin xyz="-0.003298700410732769 -0.0018287764939896034 -0.041769684857442146" rpy="3.1415803529363586 0.7788030498279591 0.6095086111791652"/>
    <parent link="l_hand_pinkie_2"/>
    <child link="l_hand_pinkie_skin_8"/>
  </joint>
  <link name="l_hand_pinkie_skin_9"/>
  <joint name="l_hand_pinkie_skin_9_fixed_joint" type="fixed">
    <origin xyz="-0.005928279137036092 -0.0011922753598834768 -0.0380000906680969" rpy="3.14157231834453 1.2994299338602708 0.36440987468608"/>
    <parent link="l_hand_pinkie_2"/>
    <child link="l_hand_pinkie_skin_9"/>
  </joint>
  <link name="l_hand_ring_skin_0"/>
  <joint name="l_hand_ring_skin_0_fixed_joint" type="fixed">
    <origin xyz="6.938893903907228e-18 -0.0024339180582365616 -0.03140545777888881" rpy="5.692756367021836e-16 1.222505598669119 -1.5707963267948966"/>
    <parent link="l_hand_ring_2"/>
    <child link="l_hand_ring_skin_0"/>
  </joint>
  <link name="l_hand_ring_skin_1"/>
  <joint name="l_hand_ring_skin_1_fixed_joint" type="fixed">
    <origin xyz="0.0033000000000000095 -0.0031311476143919548 -0.033280418005286805" rpy="5.655225861137946e-16 1.2200949024613605 -1.5707963267948966"/>
    <parent link="l_hand_ring_2"/>
    <child link="l_hand_ring_skin_1"/>
  </joint>
  <link name="l_hand_ring_skin_10"/>
  <joint name="l_hand_ring_skin_10_fixed_joint" type="fixed">
    <origin xyz="-0.0033000000000000043 -0.004081940988398369 -0.037766684597957956" rpy="3.141592653589791 1.5049109712528765 1.5707963267948966"/>
    <parent link="l_hand_ring_2"/>
    <child link="l_hand_ring_skin_10"/>
  </joint>
  <link name="l_hand_ring_skin_11"/>
  <joint name="l_hand_ring_skin_11_fixed_joint" type="fixed">
    <origin xyz="-0.0032999999999999887 -0.003131147614391927 -0.03328041800528686" rpy="5.655225861137945e-16 1.2200949024613605 -1.5707963267948966"/>
    <parent link="l_hand_ring_2"/>
    <child link="l_hand_ring_skin_11"/>
  </joint>
  <link name="l_hand_ring_skin_2"/>
  <joint name="l_hand_ring_skin_2_fixed_joint" type="fixed">
    <origin xyz="-5.204170427930421e-18 -0.003758241653579991 -0.03519204940845888" rpy="6.885393175189842e-16 1.305681332851508 -1.5707963267948963"/>
    <parent link="l_hand_ring_2"/>
    <child link="l_hand_ring_skin_2"/>
  </joint>
  <link name="l_hand_ring_skin_3"/>
  <joint name="l_hand_ring_skin_3_fixed_joint" type="fixed">
    <origin xyz="0.003300000000000008 -0.004081940988398397 -0.037766684597957956" rpy="3.141592653589791 1.5049109712528765 1.5707963267948968"/>
    <parent link="l_hand_ring_2"/>
    <child link="l_hand_ring_skin_3"/>
  </joint>
  <link name="l_hand_ring_skin_4"/>
  <joint name="l_hand_ring_skin_4_fixed_joint" type="fixed">
    <origin xyz="0.005929525942276373 -0.0011923206886612359 -0.03799999999999992" rpy="3.141592653589792 1.299444222971361 2.7771555423255903"/>
    <parent link="l_hand_ring_2"/>
    <child link="l_hand_ring_skin_4"/>
  </joint>
  <link name="l_hand_ring_skin_5"/>
  <joint name="l_hand_ring_skin_5_fixed_joint" type="fixed">
    <origin xyz="6.938893903907228e-18 -0.00348409216335116 -0.03982136611863335" rpy="3.1415926535897927 1.088751329798359 1.5707963267948968"/>
    <parent link="l_hand_ring_2"/>
    <child link="l_hand_ring_skin_5"/>
  </joint>
  <link name="l_hand_ring_skin_6"/>
  <joint name="l_hand_ring_skin_6_fixed_joint" type="fixed">
    <origin xyz="0.003299999999999994 -0.0018288017188733685 -0.041769634404151934" rpy="3.1415926535897927 0.7788155893137829 2.5320677565811995"/>
    <parent link="l_hand_ring_2"/>
    <child link="l_hand_ring_skin_6"/>
  </joint>
  <link name="l_hand_ring_skin_7"/>
  <joint name="l_hand_ring_skin_7_fixed_joint" type="fixed">
    <origin xyz="1.9081958235744878e-17 -2.9018466437888413e-4 -0.04325964091188089" rpy="3.141592653589793 0.6209480183022733 1.5712124826321159"/>
    <parent link="l_hand_ring_2"/>
    <child link="l_hand_ring_skin_7"/>
  </joint>
  <link name="l_hand_ring_skin_8"/>
  <joint name="l_hand_ring_skin_8_fixed_joint" type="fixed">
    <origin xyz="-0.0032999999999999852 -0.0018288017188733685 -0.041769634404151934" rpy="-3.141592653589793 0.7788155893137823 0.6095248970085929"/>
    <parent link="l_hand_ring_2"/>
    <child link="l_hand_ring_skin_8"/>
  </joint>
  <link name="l_hand_ring_skin_9"/>
  <joint name="l_hand_ring_skin_9_fixed_joint" type="fixed">
    <origin xyz="-0.005929525942276356 -0.0011923206886611804 -0.03799999999999992" rpy="-3.1415926535897927 1.2994442229713594 0.3644371112642026"/>
    <parent link="l_hand_ring_2"/>
    <child link="l_hand_ring_skin_9"/>
  </joint>
  <link name="l_sole"/>
  <joint name="l_sole_fixed_joint" type="fixed">
    <origin xyz="0.059629999999999996 -1.3877787807814457e-17 -0.024299999999999877" rpy="0 1.5094274020956558e-31 0"/>
    <parent link="l_foot_rear"/>
    <child link="l_sole"/>
  </joint>
  <link name="l_hand_thumb_skin_0"/>
  <joint name="l_hand_thumb_skin_0_fixed_joint" type="fixed">
    <origin xyz="-2.2125551391027898e-11 -0.002433587294553452 -0.026405457778888853" rpy="-1.1609482034540493e-11 -1.2225055986691151 1.5707963268683354"/>
    <parent link="l_hand_thumb_3"/>
    <child link="l_hand_thumb_skin_0"/>
  </joint>
  <link name="l_hand_thumb_skin_1"/>
  <joint name="l_hand_thumb_skin_1_fixed_joint" type="fixed">
    <origin xyz="0.003299999977533996 -0.0031308168507229173 -0.028280418005880898" rpy="3.141592653571252 -0.6108652381980162 -1.570796327023918"/>
    <parent link="l_hand_thumb_3"/>
    <child link="l_hand_thumb_skin_1"/>
  </joint>
  <link name="l_hand_thumb_skin_10"/>
  <joint name="l_hand_thumb_skin_10_fixed_joint" type="fixed">
    <origin xyz="-0.003300000023277627 -0.004081610224701271 -0.03276668459736391" rpy="3.1415926535743104 -1.5049109712528579 -1.5707963267955443"/>
    <parent link="l_hand_thumb_3"/>
    <child link="l_hand_thumb_skin_10"/>
  </joint>
  <link name="l_hand_thumb_skin_11"/>
  <joint name="l_hand_thumb_skin_11_fixed_joint" type="fixed">
    <origin xyz="-0.003300000022465971 -0.0031308168506947176 -0.02828041800469284" rpy="-1.1627790682026587e-11 -1.220094902461357 1.5707963268688572"/>
    <parent link="l_hand_thumb_3"/>
    <child link="l_hand_thumb_skin_11"/>
  </joint>
  <link name="l_hand_thumb_skin_2"/>
  <joint name="l_hand_thumb_skin_2_fixed_joint" type="fixed">
    <origin xyz="-2.2812751687695254e-11 -0.0037579108898968816 -0.030192049408458887" rpy="-1.0975528579504133e-11 -1.305681332851502 1.5707963268508718"/>
    <parent link="l_hand_thumb_3"/>
    <child link="l_hand_thumb_skin_2"/>
  </joint>
  <link name="l_hand_thumb_skin_3"/>
  <joint name="l_hand_thumb_skin_3_fixed_joint" type="fixed">
    <origin xyz="0.0032999999767223676 -0.004081610224729415 -0.03276668459855195" rpy="3.141592653571252 -0.6108652381980161 -1.570796327023918"/>
    <parent link="l_hand_thumb_3"/>
    <child link="l_hand_thumb_skin_3"/>
  </joint>
  <link name="l_hand_thumb_skin_4"/>
  <joint name="l_hand_thumb_skin_4_fixed_joint" type="fixed">
    <origin xyz="0.005929525918969086 -0.0011919899250033839 -0.03300000000106727" rpy="1.570796323948815 -1.507507555817487 -1.5707963239587988"/>
    <parent link="l_hand_thumb_3"/>
    <child link="l_hand_thumb_skin_4"/>
  </joint>
  <link name="l_hand_thumb_skin_5"/>
  <joint name="l_hand_thumb_skin_5_fixed_joint" type="fixed">
    <origin xyz="-2.364491935580304e-11 -0.0034837613996680783 -0.034821366118633304" rpy="3.141592653576766 -1.0887513297983578 -1.57079632687865"/>
    <parent link="l_hand_thumb_3"/>
    <child link="l_hand_thumb_skin_5"/>
  </joint>
  <link name="l_hand_thumb_skin_6"/>
  <joint name="l_hand_thumb_skin_6_fixed_joint" type="fixed">
    <origin xyz="0.0032999999760114918 -0.0018284709552043588 -0.03676963440474591" rpy="-4.620360040236946e-16 -0.7657426237199224 -1.5707963267949006"/>
    <parent link="l_hand_thumb_3"/>
    <child link="l_hand_thumb_skin_6"/>
  </joint>
  <link name="l_hand_thumb_skin_7"/>
  <joint name="l_hand_thumb_skin_7_fixed_joint" type="fixed">
    <origin xyz="-2.4250157437677444e-11 -2.898539006957468e-4 -0.038259640911880916" rpy="-3.1415628662062685 -0.620948017682013 -1.5704313693095489"/>
    <parent link="l_hand_thumb_3"/>
    <child link="l_hand_thumb_skin_7"/>
  </joint>
  <link name="l_hand_thumb_skin_8"/>
  <joint name="l_hand_thumb_skin_8_fixed_joint" type="fixed">
    <origin xyz="-0.0033000000239885308 -0.0018284709551761869 -0.036769634403557905" rpy="3.071469777395219 -0.7763161157147594 -2.432155397543958"/>
    <parent link="l_hand_thumb_3"/>
    <child link="l_hand_thumb_skin_8"/>
  </joint>
  <link name="l_hand_thumb_skin_9"/>
  <joint name="l_hand_thumb_skin_9_fixed_joint" type="fixed">
    <origin xyz="-0.005929525965583604 -0.0011919899249527854 -0.032999999998932564" rpy="2.9258803345668243 -1.2928372761145006 -2.5531132071417293"/>
    <parent link="l_hand_thumb_3"/>
    <child link="l_hand_thumb_skin_9"/>
  </joint>
  <link name="r_hand_index_skin_0"/>
  <joint name="r_hand_index_skin_0_fixed_joint" type="fixed">
    <origin xyz="3.469446951953614e-17 -0.002433928982192385 -0.03140545693228214" rpy="2.8463754567347765e-16 1.2225052508328904 -1.5707963267948963"/>
    <parent link="r_hand_index_3"/>
    <child link="r_hand_index_skin_0"/>
  </joint>
  <link name="r_hand_index_skin_1"/>
  <joint name="r_hand_index_skin_1_fixed_joint" type="fixed">
    <origin xyz="0.0032999999999999974 -0.0031311591905268388 -0.033280416916158295" rpy="2.4236659217065896e-16 1.2200945546251307 -1.5707963267948963"/>
    <parent link="r_hand_index_3"/>
    <child link="r_hand_index_skin_1"/>
  </joint>
  <link name="r_hand_index_skin_10"/>
  <joint name="r_hand_index_skin_10_fixed_joint" type="fixed">
    <origin xyz="-0.0032999999999999696 -0.0040819541250192715 -0.03776668317810877" rpy="3.1415926535897922 1.5049113190891115 1.5707963267948952"/>
    <parent link="r_hand_index_3"/>
    <child link="r_hand_index_skin_10"/>
  </joint>
  <link name="r_hand_index_skin_11"/>
  <joint name="r_hand_index_skin_11_fixed_joint" type="fixed">
    <origin xyz="-0.0033000000000000043 -0.0031311591905267833 -0.033280416916158295" rpy="2.4236659217065896e-16 1.2200945546251307 -1.5707963267948963"/>
    <parent link="r_hand_index_3"/>
    <child link="r_hand_index_skin_11"/>
  </joint>
  <link name="r_hand_index_skin_2"/>
  <joint name="r_hand_index_skin_2_fixed_joint" type="fixed">
    <origin xyz="6.938893903907228e-18 -0.003758253894649538 -0.03519204810120419" rpy="3.177869701880381e-16 1.3056809850152777 -1.5707963267948961"/>
    <parent link="r_hand_index_3"/>
    <child link="r_hand_index_skin_2"/>
  </joint>
  <link name="r_hand_index_skin_3"/>
  <joint name="r_hand_index_skin_3_fixed_joint" type="fixed">
    <origin xyz="0.0033000000000000043 -0.004081954125019299 -0.03776668317810877" rpy="3.1415926535897922 1.5049113190891115 1.5707963267948952"/>
    <parent link="r_hand_index_3"/>
    <child link="r_hand_index_skin_3"/>
  </joint>
  <link name="r_hand_index_skin_4"/>
  <joint name="r_hand_index_skin_4_fixed_joint" type="fixed">
    <origin xyz="0.005929525942276359 -0.0011923339064377758 -0.03799999958526529" rpy="-3.1415914410880514 1.299444346948154 2.777156710461142"/>
    <parent link="r_hand_index_3"/>
    <child link="r_hand_index_skin_4"/>
  </joint>
  <link name="r_hand_index_skin_5"/>
  <joint name="r_hand_index_skin_5_fixed_joint" type="fixed">
    <origin xyz="6.938893903907228e-18 -0.003484106014664784 -0.03982136490673749" rpy="3.141592653589793 1.0887516776345891 1.5707963267948963"/>
    <parent link="r_hand_index_3"/>
    <child link="r_hand_index_skin_5"/>
  </joint>
  <link name="r_hand_index_skin_6"/>
  <joint name="r_hand_index_skin_6_fixed_joint" type="fixed">
    <origin xyz="0.0033000000000000043 -0.0018288162478654058 -0.04176963376802595" rpy="-3.141592252887904 0.7788157884423246 2.5320680380490246"/>
    <parent link="r_hand_index_3"/>
    <child link="r_hand_index_skin_6"/>
  </joint>
  <link name="r_hand_index_skin_7"/>
  <joint name="r_hand_index_skin_7_fixed_joint" type="fixed">
    <origin xyz="-2.7755575615628914e-17 -2.901997116492028e-4 -0.04325964081094158" rpy="-3.1415926534118155 0.6209483661384732 1.5712124827356644"/>
    <parent link="r_hand_index_3"/>
    <child link="r_hand_index_skin_7"/>
  </joint>
  <link name="r_hand_index_skin_8"/>
  <joint name="r_hand_index_skin_8_fixed_joint" type="fixed">
    <origin xyz="-0.0032999999999999835 -0.0018288162478654058 -0.04176963376802595" rpy="3.141592252887904 0.7788157884423246 0.6095246155407682"/>
    <parent link="r_hand_index_3"/>
    <child link="r_hand_index_skin_8"/>
  </joint>
  <link name="r_hand_index_skin_9"/>
  <joint name="r_hand_index_skin_9_fixed_joint" type="fixed">
    <origin xyz="-0.005929525942276352 -0.0011923339064378036 -0.03799999958526534" rpy="3.1415914410880514 1.2994443469481536 0.36443594312865046"/>
    <parent link="r_hand_index_3"/>
    <child link="r_hand_index_skin_9"/>
  </joint>
  <link name="r_hand_middle_skin_0"/>
  <joint name="r_hand_middle_skin_0_fixed_joint" type="fixed">
    <origin xyz="-2.0816681711721685e-17 -0.002433918058236506 -0.03140545777888887" rpy="-2.4397527287236403e-16 1.2225055986691193 -1.570796326794897"/>
    <parent link="r_hand_middle_2"/>
    <child link="r_hand_middle_skin_0"/>
  </joint>
  <link name="r_hand_middle_skin_1"/>
  <joint name="r_hand_middle_skin_1_fixed_joint" type="fixed">
    <origin xyz="0.003299999999999987 -0.0031311476143918993 -0.033280418005286916" rpy="-2.4236682262019717e-16 1.2200949024613599 -1.5707963267948972"/>
    <parent link="r_hand_middle_2"/>
    <child link="r_hand_middle_skin_1"/>
  </joint>
  <link name="r_hand_middle_skin_10"/>
  <joint name="r_hand_middle_skin_10_fixed_joint" type="fixed">
    <origin xyz="-0.0033000000000000113 -0.004081940988398369 -0.03776668459795801" rpy="-3.141592653589792 1.5049109712528799 1.5707963267948983"/>
    <parent link="r_hand_middle_2"/>
    <child link="r_hand_middle_skin_10"/>
  </joint>
  <link name="r_hand_middle_skin_11"/>
  <joint name="r_hand_middle_skin_11_fixed_joint" type="fixed">
    <origin xyz="-0.003300000000000025 -0.0031311476143918715 -0.03328041800528686" rpy="-2.4236682262019727e-16 1.2200949024613594 -1.5707963267948972"/>
    <parent link="r_hand_middle_2"/>
    <child link="r_hand_middle_skin_11"/>
  </joint>
  <link name="r_hand_middle_skin_2"/>
  <joint name="r_hand_middle_skin_2_fixed_joint" type="fixed">
    <origin xyz="-4.5102810375396984e-17 -0.003758241653579991 -0.035192049408458936" rpy="-3.177873773164535e-16 1.3056813328515076 -1.5707963267948972"/>
    <parent link="r_hand_middle_2"/>
    <child link="r_hand_middle_skin_2"/>
  </joint>
  <link name="r_hand_middle_skin_3"/>
  <joint name="r_hand_middle_skin_3_fixed_joint" type="fixed">
    <origin xyz="0.003299999999999942 -0.004081940988398425 -0.03776668459795801" rpy="-3.141592653589792 1.5049109712528799 1.5707963267948986"/>
    <parent link="r_hand_middle_2"/>
    <child link="r_hand_middle_skin_3"/>
  </joint>
  <link name="r_hand_middle_skin_4"/>
  <joint name="r_hand_middle_skin_4_fixed_joint" type="fixed">
    <origin xyz="0.005929525942276321 -0.001192320688661208 -0.03799999999999998" rpy="-3.141592653589792 1.2994442229713614 2.7771555423255876"/>
    <parent link="r_hand_middle_2"/>
    <child link="r_hand_middle_skin_4"/>
  </joint>
  <link name="r_hand_middle_skin_5"/>
  <joint name="r_hand_middle_skin_5_fixed_joint" type="fixed">
    <origin xyz="-2.42861286636753e-17 -0.0034840921633511046 -0.03982136611863335" rpy="-3.141592653589793 1.08875132979836 1.5707963267948968"/>
    <parent link="r_hand_middle_2"/>
    <child link="r_hand_middle_skin_5"/>
  </joint>
  <link name="r_hand_middle_skin_6"/>
  <joint name="r_hand_middle_skin_6_fixed_joint" type="fixed">
    <origin xyz="0.0032999999999999766 -0.0018288017188733963 -0.041769634404151934" rpy="-3.1415926535897927 0.778815589313783 2.532067756581199"/>
    <parent link="r_hand_middle_2"/>
    <child link="r_hand_middle_skin_6"/>
  </joint>
  <link name="r_hand_middle_skin_7"/>
  <joint name="r_hand_middle_skin_7_fixed_joint" type="fixed">
    <origin xyz="-5.204170427930421e-17 -2.9018466437888413e-4 -0.04325964091188089" rpy="-3.141592653589793 0.6209480183022739 1.5712124826321157"/>
    <parent link="r_hand_middle_2"/>
    <child link="r_hand_middle_skin_7"/>
  </joint>
  <link name="r_hand_middle_skin_8"/>
  <joint name="r_hand_middle_skin_8_fixed_joint" type="fixed">
    <origin xyz="-0.0033000000000000217 -0.0018288017188733408 -0.04176963440415199" rpy="3.1415926535897927 0.778815589313783 0.6095248970085936"/>
    <parent link="r_hand_middle_2"/>
    <child link="r_hand_middle_skin_8"/>
  </joint>
  <link name="r_hand_middle_skin_9"/>
  <joint name="r_hand_middle_skin_9_fixed_joint" type="fixed">
    <origin xyz="-0.00592952594227638 -0.0011923206886611526 -0.03799999999999998" rpy="3.141592653589792 1.299444222971361 0.3644371112642049"/>
    <parent link="r_hand_middle_2"/>
    <child link="r_hand_middle_skin_9"/>
  </joint>
  <link name="r_hand_pinkie_skin_0"/>
  <joint name="r_hand_pinkie_skin_0_fixed_joint" type="fixed">
    <origin xyz="0 -0.0024339180582408637 -0.03140545777888881" rpy="2.6430654561173425e-16 1.2225055986691284 -1.5707963267948966"/>
    <parent link="r_hand_pinkie_2"/>
    <child link="r_hand_pinkie_skin_0"/>
  </joint>
  <link name="r_hand_pinkie_skin_1"/>
  <joint name="r_hand_pinkie_skin_1_fixed_joint" type="fixed">
    <origin xyz="0.0033000000000000113 -0.0031311476143962846 -0.03328041800528675" rpy="1.8177511696515236e-16 1.2200949024613699 -1.5707963267948966"/>
    <parent link="r_hand_pinkie_2"/>
    <child link="r_hand_pinkie_skin_1"/>
  </joint>
  <link name="r_hand_pinkie_skin_10"/>
  <joint name="r_hand_pinkie_skin_10_fixed_joint" type="fixed">
    <origin xyz="-0.0032999999999999974 -0.004081940988402782 -0.037766684597957845" rpy="3.1415926535897922 1.5049109712528714 1.5707963267948974"/>
    <parent link="r_hand_pinkie_2"/>
    <child link="r_hand_pinkie_skin_10"/>
  </joint>
  <link name="r_hand_pinkie_skin_11"/>
  <joint name="r_hand_pinkie_skin_11_fixed_joint" type="fixed">
    <origin xyz="-0.0032999999999999904 -0.0031311476143963124 -0.033280418005286805" rpy="1.8177511696515236e-16 1.2200949024613699 -1.5707963267948966"/>
    <parent link="r_hand_pinkie_2"/>
    <child link="r_hand_pinkie_skin_11"/>
  </joint>
  <link name="r_hand_pinkie_skin_2"/>
  <joint name="r_hand_pinkie_skin_2_fixed_joint" type="fixed">
    <origin xyz="0 -0.003758241653584321 -0.03519204940845877" rpy="3.17787377316464e-16 1.3056813328515169 -1.5707963267948966"/>
    <parent link="r_hand_pinkie_2"/>
    <child link="r_hand_pinkie_skin_2"/>
  </joint>
  <link name="r_hand_pinkie_skin_3"/>
  <joint name="r_hand_pinkie_skin_3_fixed_joint" type="fixed">
    <origin xyz="0.003300000000000018 -0.004081940988402699 -0.0377666845979579" rpy="3.1415926535897922 1.5049109712528714 1.5707963267948977"/>
    <parent link="r_hand_pinkie_2"/>
    <child link="r_hand_pinkie_skin_3"/>
  </joint>
  <link name="r_hand_pinkie_skin_4"/>
  <joint name="r_hand_pinkie_skin_4_fixed_joint" type="fixed">
    <origin xyz="0.005929525942276366 -0.0011923206886655102 -0.03799999999999981" rpy="3.1415926535897625 1.2994442229713585 2.777155542325558"/>
    <parent link="r_hand_pinkie_2"/>
    <child link="r_hand_pinkie_skin_4"/>
  </joint>
  <link name="r_hand_pinkie_skin_5"/>
  <joint name="r_hand_pinkie_skin_5_fixed_joint" type="fixed">
    <origin xyz="1.3877787807814457e-17 -0.00348409216335549 -0.03982136611863324" rpy="3.141592653589793 1.0887513297983513 1.5707963267948968"/>
    <parent link="r_hand_pinkie_2"/>
    <child link="r_hand_pinkie_skin_5"/>
  </joint>
  <link name="r_hand_pinkie_skin_6"/>
  <joint name="r_hand_pinkie_skin_6_fixed_joint" type="fixed">
    <origin xyz="0.0033000000000000043 -0.0018288017188776429 -0.04176963440415177" rpy="3.1415926535897833 0.778815589313778 2.532067756581192"/>
    <parent link="r_hand_pinkie_2"/>
    <child link="r_hand_pinkie_skin_6"/>
  </joint>
  <link name="r_hand_pinkie_skin_7"/>
  <joint name="r_hand_pinkie_skin_7_fixed_joint" type="fixed">
    <origin xyz="-6.938893903907228e-18 -2.901846643830752e-4 -0.04325964091188084" rpy="3.141592653589793 0.620948018302265 1.5712124826321159"/>
    <parent link="r_hand_pinkie_2"/>
    <child link="r_hand_pinkie_skin_7"/>
  </joint>
  <link name="r_hand_pinkie_skin_8"/>
  <joint name="r_hand_pinkie_skin_8_fixed_joint" type="fixed">
    <origin xyz="-0.0032999999999999904 -0.0018288017188776429 -0.04176963440415177" rpy="-3.1415926535897833 0.7788155893137778 0.6095248970086008"/>
    <parent link="r_hand_pinkie_2"/>
    <child link="r_hand_pinkie_skin_8"/>
  </joint>
  <link name="r_hand_pinkie_skin_9"/>
  <joint name="r_hand_pinkie_skin_9_fixed_joint" type="fixed">
    <origin xyz="-0.005929525942276352 -0.0011923206886654825 -0.03799999999999981" rpy="-3.141592653589763 1.299444222971359 0.3644371112642355"/>
    <parent link="r_hand_pinkie_2"/>
    <child link="r_hand_pinkie_skin_9"/>
  </joint>
  <link name="r_hand_ring_skin_0"/>
  <joint name="r_hand_ring_skin_0_fixed_joint" type="fixed">
    <origin xyz="3.469446951953614e-18 -0.0024339182743748355 -0.03140545776213821" rpy="1.4231890647798227e-16 1.222505591786931 -1.5707963267948966"/>
    <parent link="r_hand_ring_2"/>
    <child link="r_hand_ring_skin_0"/>
  </joint>
  <link name="r_hand_ring_skin_1"/>
  <joint name="r_hand_ring_skin_1_fixed_joint" type="fixed">
    <origin xyz="0.0032999999999999974 -0.0031311478434340456 -0.03328041798373782" rpy="1.4138064386867392e-16 1.2200948955791715 -1.5707963267948966"/>
    <parent link="r_hand_ring_2"/>
    <child link="r_hand_ring_skin_1"/>
  </joint>
  <link name="r_hand_ring_skin_10"/>
  <joint name="r_hand_ring_skin_10_fixed_joint" type="fixed">
    <origin xyz="-0.0033000000000000113 -0.004081941248315957 -0.03776668456986537" rpy="3.1415926535897927 1.5049109781350702 1.5707963267948977"/>
    <parent link="r_hand_ring_2"/>
    <child link="r_hand_ring_skin_10"/>
  </joint>
  <link name="r_hand_ring_skin_11"/>
  <joint name="r_hand_ring_skin_11_fixed_joint" type="fixed">
    <origin xyz="-0.0033000000000000026 -0.0031311478434340456 -0.033280417983737876" rpy="1.4138064386867392e-16 1.2200948955791715 -1.5707963267948966"/>
    <parent link="r_hand_ring_2"/>
    <child link="r_hand_ring_skin_11"/>
  </joint>
  <link name="r_hand_ring_skin_2"/>
  <joint name="r_hand_ring_skin_2_fixed_joint" type="fixed">
    <origin xyz="1.214306433183765e-17 -0.0037582418957782804 -0.035192049382594015" rpy="1.324114038587985e-16 1.305681325969319 -1.5707963267948966"/>
    <parent link="r_hand_ring_2"/>
    <child link="r_hand_ring_skin_2"/>
  </joint>
  <link name="r_hand_ring_skin_3"/>
  <joint name="r_hand_ring_skin_3_fixed_joint" type="fixed">
    <origin xyz="0.003299999999999987 -0.004081941248315901 -0.03776668456986537" rpy="3.1415926535897927 1.5049109781350702 1.5707963267948974"/>
    <parent link="r_hand_ring_2"/>
    <child link="r_hand_ring_skin_3"/>
  </joint>
  <link name="r_hand_ring_skin_4"/>
  <joint name="r_hand_ring_skin_4_fixed_joint" type="fixed">
    <origin xyz="0.005929525942276352 -0.0011923209501843446 -0.03799999999179421" rpy="-3.1415926295995895 1.2994442254243346 2.777155565437974"/>
    <parent link="r_hand_ring_2"/>
    <child link="r_hand_ring_skin_4"/>
  </joint>
  <link name="r_hand_ring_skin_5"/>
  <joint name="r_hand_ring_skin_5_fixed_joint" type="fixed">
    <origin xyz="-1.214306433183765e-17 -0.0034840924374092974 -0.03982136609465514" rpy="3.141592653589793 1.0887513366805477 1.570796326794897"/>
    <parent link="r_hand_ring_2"/>
    <child link="r_hand_ring_skin_5"/>
  </joint>
  <link name="r_hand_ring_skin_6"/>
  <joint name="r_hand_ring_skin_6_fixed_joint" type="fixed">
    <origin xyz="0.0032999999999999974 -0.0018288020063398913 -0.04176963439156578" rpy="-3.141592645661621 0.7788155932536848 2.53206776215024"/>
    <parent link="r_hand_ring_2"/>
    <child link="r_hand_ring_skin_6"/>
  </joint>
  <link name="r_hand_ring_skin_7"/>
  <joint name="r_hand_ring_skin_7_fixed_joint" type="fixed">
    <origin xyz="3.469446951953614e-18 -2.901849620998431e-4 -0.04325964090988388" rpy="-3.141592653586272 0.6209480251844615 1.5712124826341647"/>
    <parent link="r_hand_ring_2"/>
    <child link="r_hand_ring_skin_7"/>
  </joint>
  <link name="r_hand_ring_skin_8"/>
  <joint name="r_hand_ring_skin_8_fixed_joint" type="fixed">
    <origin xyz="-0.0032999999999999956 -0.0018288020063398913 -0.04176963439156589" rpy="3.141592645661621 0.7788155932536843 0.6095248914395535"/>
    <parent link="r_hand_ring_2"/>
    <child link="r_hand_ring_skin_8"/>
  </joint>
  <link name="r_hand_ring_skin_9"/>
  <joint name="r_hand_ring_skin_9_fixed_joint" type="fixed">
    <origin xyz="-0.0059295259422763695 -0.0011923209501843723 -0.03799999999179421" rpy="3.141592629599589 1.2994442254243332 0.36443708815181947"/>
    <parent link="r_hand_ring_2"/>
    <child link="r_hand_ring_skin_9"/>
  </joint>
  <link name="r_sole"/>
  <joint name="r_sole_fixed_joint" type="fixed">
    <origin xyz="0.05963 -1.3877787807814457e-17 -0.02429999999999999" rpy="0 3.1371750050201436e-30 0"/>
    <parent link="r_foot_rear"/>
    <child link="r_sole"/>
  </joint>
  <link name="r_hand_thumb_skin_0"/>
  <joint name="r_hand_thumb_skin_0_fixed_joint" type="fixed">
    <origin xyz="-5.551115123125783e-17 -0.002433587294553591 -0.026405457778889127" rpy="2.765053092553465e-15 -1.22250559866914 1.5707963267948857"/>
    <parent link="r_hand_thumb_3"/>
    <child link="r_hand_thumb_skin_0"/>
  </joint>
  <link name="r_hand_thumb_skin_1"/>
  <joint name="r_hand_thumb_skin_1_fixed_joint" type="fixed">
    <origin xyz="0.0032999999999999696 -0.0031308168507089285 -0.02828041800528714" rpy="3.1415926535897922 -0.6108652381980179 -1.5707963267949114"/>
    <parent link="r_hand_thumb_3"/>
    <child link="r_hand_thumb_skin_1"/>
  </joint>
  <link name="r_hand_thumb_skin_10"/>
  <joint name="r_hand_thumb_skin_10_fixed_joint" type="fixed">
    <origin xyz="-0.003300000000000053 -0.004081610224715565 -0.032766684597958284" rpy="3.141592653589779 -1.5049109712529725 -1.570796326794926"/>
    <parent link="r_hand_thumb_3"/>
    <child link="r_hand_thumb_skin_10"/>
  </joint>
  <link name="r_hand_thumb_skin_11"/>
  <joint name="r_hand_thumb_skin_11_fixed_joint" type="fixed">
    <origin xyz="-0.003300000000000053 -0.0031308168507090395 -0.02828041800528719" rpy="2.908401871442372e-15 -1.2200949024613812 1.5707963267948855"/>
    <parent link="r_hand_thumb_3"/>
    <child link="r_hand_thumb_skin_11"/>
  </joint>
  <link name="r_hand_thumb_skin_2"/>
  <joint name="r_hand_thumb_skin_2_fixed_joint" type="fixed">
    <origin xyz="0 -0.0037579108898970204 -0.03019204940845916" rpy="3.389732024708853e-15 -1.3056813328515338 1.5707963267948863"/>
    <parent link="r_hand_thumb_3"/>
    <child link="r_hand_thumb_skin_2"/>
  </joint>
  <link name="r_hand_thumb_skin_3"/>
  <joint name="r_hand_thumb_skin_3_fixed_joint" type="fixed">
    <origin xyz="0.0032999999999999974 -0.004081610224715454 -0.032766684597958305" rpy="3.1415926535897922 -0.6108652381980177 -1.5707963267949112"/>
    <parent link="r_hand_thumb_3"/>
    <child link="r_hand_thumb_skin_3"/>
  </joint>
  <link name="r_hand_thumb_skin_4"/>
  <joint name="r_hand_thumb_skin_4_fixed_joint" type="fixed">
    <origin xyz="0.005929525942276387 -0.0011919899249781263 -0.03300000000000026" rpy="1.5707963267948817 -1.507507552842365 -1.5707963267949265"/>
    <parent link="r_hand_thumb_3"/>
    <child link="r_hand_thumb_skin_4"/>
  </joint>
  <link name="r_hand_thumb_skin_5"/>
  <joint name="r_hand_thumb_skin_5_fixed_joint" type="fixed">
    <origin xyz="-5.551115123125783e-17 -0.003483761399668245 -0.034821366118633644" rpy="3.1415926535897913 -1.088751329798369 -1.5707963267949128"/>
    <parent link="r_hand_thumb_3"/>
    <child link="r_hand_thumb_skin_5"/>
  </joint>
  <link name="r_hand_thumb_skin_6"/>
  <joint name="r_hand_thumb_skin_6_fixed_joint" type="fixed">
    <origin xyz="0.0032999999999999974 -0.0018284709551903977 -0.036769634404152235" rpy="-1.3861080081060772e-15 -0.7657426207446857 -1.5707963267949117"/>
    <parent link="r_hand_thumb_3"/>
    <child link="r_hand_thumb_skin_6"/>
  </joint>
  <link name="r_hand_thumb_skin_7"/>
  <joint name="r_hand_thumb_skin_7_fixed_joint" type="fixed">
    <origin xyz="-2.7755575615628914e-17 -2.898539006959133e-4 -0.038259640911881256" rpy="-3.1415628661866624 -0.6209480176820894 -1.570431369087355"/>
    <parent link="r_hand_thumb_3"/>
    <child link="r_hand_thumb_skin_7"/>
  </joint>
  <link name="r_hand_thumb_skin_8"/>
  <joint name="r_hand_thumb_skin_8_fixed_joint" type="fixed">
    <origin xyz="-0.0032999999999999974 -0.0018284709551905087 -0.03676963440415227" rpy="3.071469774250236 -0.7763161153414891 -2.432155392931655"/>
    <parent link="r_hand_thumb_3"/>
    <child link="r_hand_thumb_skin_8"/>
  </joint>
  <link name="r_hand_thumb_skin_9"/>
  <joint name="r_hand_thumb_skin_9_fixed_joint" type="fixed">
    <origin xyz="-0.005929525942276387 -0.0011919899249783206 -0.03300000000000024" rpy="2.9258803249384773 -1.2928372753400146 -2.553113197096302"/>
    <parent link="r_hand_thumb_3"/>
    <child link="r_hand_thumb_skin_9"/>
  </joint>
  <gazebo reference="l_arm_ft_sensor">
    <sensor name="l_arm_ft" type="force_torque">
      <always_on>1</always_on>
      <update_rate>100</update_rate>
      <force_torque>
        <frame>sensor</frame>
        <measure_direction>child_to_parent</measure_direction>
      </force_torque>
      <pose>-3.46945e-18 0 0 3.14159 1.94289e-16 -1.5708 </pose>
      <plugin name="left_arm_ft_plugin" filename="libgazebo_yarp_forcetorque.so">
        <yarpConfigurationFile>model://ergoCub/conf/FT/gazebo_ergocub_left_arm_ft.ini</yarpConfigurationFile>
      </plugin>
    </sensor>
  </gazebo>
  <sensor name="l_arm_ft" type="force_torque">
    <parent joint="l_arm_ft_sensor"/>
    <force_torque>
      <frame>sensor</frame>
      <measure_direction>child_to_parent</measure_direction>
    </force_torque>
    <origin rpy="3.14159 1.94289e-16 -1.5708 " xyz="-3.46945e-18 0 0"/>
  </sensor>
  <gazebo reference="l_foot_front_ft_sensor">
    <sensor name="l_foot_front_ft" type="force_torque">
      <always_on>1</always_on>
      <update_rate>100</update_rate>
      <force_torque>
        <frame>sensor</frame>
        <measure_direction>parent_to_child</measure_direction>
      </force_torque>
      <pose>0 0 0 1.25667e-16 2.20112e-17 -2.0944 </pose>
      <plugin name="left_foot_front_ft_plugin" filename="libgazebo_yarp_forcetorque.so">
        <yarpConfigurationFile>model://ergoCub/conf/FT/gazebo_ergocub_left_foot_front_ft.ini</yarpConfigurationFile>
      </plugin>
    </sensor>
  </gazebo>
  <sensor name="l_foot_front_ft" type="force_torque">
    <parent joint="l_foot_front_ft_sensor"/>
    <force_torque>
      <frame>sensor</frame>
      <measure_direction>parent_to_child</measure_direction>
    </force_torque>
    <origin rpy="1.25667e-16 2.20112e-17 -2.0944 " xyz="0 0 0"/>
  </sensor>
  <gazebo reference="l_foot_rear_ft_sensor">
    <sensor name="l_foot_rear_ft" type="force_torque">
      <always_on>1</always_on>
      <update_rate>100</update_rate>
      <force_torque>
        <frame>sensor</frame>
        <measure_direction>parent_to_child</measure_direction>
      </force_torque>
      <pose>0 0 0 1.25667e-16 2.20112e-17 -2.0944 </pose>
      <plugin name="left_foot_rear_ft_plugin" filename="libgazebo_yarp_forcetorque.so">
        <yarpConfigurationFile>model://ergoCub/conf/FT/gazebo_ergocub_left_foot_rear_ft.ini</yarpConfigurationFile>
      </plugin>
    </sensor>
  </gazebo>
  <sensor name="l_foot_rear_ft" type="force_torque">
    <parent joint="l_foot_rear_ft_sensor"/>
    <force_torque>
      <frame>sensor</frame>
      <measure_direction>parent_to_child</measure_direction>
    </force_torque>
    <origin rpy="1.25667e-16 2.20112e-17 -2.0944 " xyz="0 0 0"/>
  </sensor>
  <gazebo reference="l_leg_ft_sensor">
    <sensor name="l_leg_ft" type="force_torque">
      <always_on>1</always_on>
      <update_rate>100</update_rate>
      <force_torque>
        <frame>sensor</frame>
        <measure_direction>child_to_parent</measure_direction>
      </force_torque>
      <pose>5.20417e-18 0 0 3.14159 -2.02132e-15 2.61799 </pose>
      <plugin name="left_leg_ft_plugin" filename="libgazebo_yarp_forcetorque.so">
        <yarpConfigurationFile>model://ergoCub/conf/FT/gazebo_ergocub_left_leg_ft.ini</yarpConfigurationFile>
      </plugin>
    </sensor>
  </gazebo>
  <sensor name="l_leg_ft" type="force_torque">
    <parent joint="l_leg_ft_sensor"/>
    <force_torque>
      <frame>sensor</frame>
      <measure_direction>child_to_parent</measure_direction>
    </force_torque>
    <origin rpy="3.14159 -2.02132e-15 2.61799 " xyz="5.20417e-18 0 0"/>
  </sensor>
  <gazebo reference="r_arm_ft_sensor">
    <sensor name="r_arm_ft" type="force_torque">
      <always_on>1</always_on>
      <update_rate>100</update_rate>
      <force_torque>
        <frame>sensor</frame>
        <measure_direction>child_to_parent</measure_direction>
      </force_torque>
      <pose>0 0 0 -3.14159 -2.77556e-17 1.5708 </pose>
      <plugin name="right_arm_ft_plugin" filename="libgazebo_yarp_forcetorque.so">
        <yarpConfigurationFile>model://ergoCub/conf/FT/gazebo_ergocub_right_arm_ft.ini</yarpConfigurationFile>
      </plugin>
    </sensor>
  </gazebo>
  <sensor name="r_arm_ft" type="force_torque">
    <parent joint="r_arm_ft_sensor"/>
    <force_torque>
      <frame>sensor</frame>
      <measure_direction>child_to_parent</measure_direction>
    </force_torque>
    <origin rpy="-3.14159 -2.77556e-17 1.5708 " xyz="0 0 0"/>
  </sensor>
  <gazebo reference="r_foot_front_ft_sensor">
    <sensor name="r_foot_front_ft" type="force_torque">
      <always_on>1</always_on>
      <update_rate>100</update_rate>
      <force_torque>
        <frame>sensor</frame>
        <measure_direction>parent_to_child</measure_direction>
      </force_torque>
      <pose>0 1.38778e-17 1.11022e-16 -1.0903e-16 -1.44222e-16 -2.0944 </pose>
      <plugin name="right_foot_front_ft_plugin" filename="libgazebo_yarp_forcetorque.so">
        <yarpConfigurationFile>model://ergoCub/conf/FT/gazebo_ergocub_right_foot_front_ft.ini</yarpConfigurationFile>
      </plugin>
    </sensor>
  </gazebo>
  <sensor name="r_foot_front_ft" type="force_torque">
    <parent joint="r_foot_front_ft_sensor"/>
    <force_torque>
      <frame>sensor</frame>
      <measure_direction>parent_to_child</measure_direction>
    </force_torque>
    <origin rpy="-1.0903e-16 -1.44222e-16 -2.0944 " xyz="0 1.38778e-17 1.11022e-16"/>
  </sensor>
  <gazebo reference="r_foot_rear_ft_sensor">
    <sensor name="r_foot_rear_ft" type="force_torque">
      <always_on>1</always_on>
      <update_rate>100</update_rate>
      <force_torque>
        <frame>sensor</frame>
        <measure_direction>parent_to_child</measure_direction>
      </force_torque>
      <pose>3.46945e-18 0 0 -1.0903e-16 -1.44222e-16 -2.0944 </pose>
      <plugin name="right_foot_rear_ft_plugin" filename="libgazebo_yarp_forcetorque.so">
        <yarpConfigurationFile>model://ergoCub/conf/FT/gazebo_ergocub_right_foot_rear_ft.ini</yarpConfigurationFile>
      </plugin>
    </sensor>
  </gazebo>
  <sensor name="r_foot_rear_ft" type="force_torque">
    <parent joint="r_foot_rear_ft_sensor"/>
    <force_torque>
      <frame>sensor</frame>
      <measure_direction>parent_to_child</measure_direction>
    </force_torque>
    <origin rpy="-1.0903e-16 -1.44222e-16 -2.0944 " xyz="3.46945e-18 0 0"/>
  </sensor>
  <gazebo reference="r_leg_ft_sensor">
    <sensor name="r_leg_ft" type="force_torque">
      <always_on>1</always_on>
      <update_rate>100</update_rate>
      <force_torque>
        <frame>sensor</frame>
        <measure_direction>child_to_parent</measure_direction>
      </force_torque>
      <pose>1.21431e-17 2.77556e-17 5.55112e-17 3.14159 2.98881e-16 -2.61799 </pose>
      <plugin name="right_leg_ft_plugin" filename="libgazebo_yarp_forcetorque.so">
        <yarpConfigurationFile>model://ergoCub/conf/FT/gazebo_ergocub_right_leg_ft.ini</yarpConfigurationFile>
      </plugin>
    </sensor>
  </gazebo>
  <sensor name="r_leg_ft" type="force_torque">
    <parent joint="r_leg_ft_sensor"/>
    <force_torque>
      <frame>sensor</frame>
      <measure_direction>child_to_parent</measure_direction>
    </force_torque>
    <origin rpy="3.14159 2.98881e-16 -2.61799 " xyz="1.21431e-17 2.77556e-17 5.55112e-17"/>
  </sensor>
  <gazebo reference="head">
    <sensor name="head_imu_0" type="imu">
      <always_on>1</always_on>
      <update_rate>100.000000</update_rate>
      <pose>-0.0043 -0.0055 0.0382345 -3.14159 -9.68848e-15 1.5708 </pose>
      <plugin name="ergocub_yarp_gazebo_plugin_IMU" filename="libgazebo_yarp_imu.so">
        <yarpConfigurationFile>model://ergoCub/conf/gazebo_ergocub_inertial.ini</yarpConfigurationFile>
      </plugin>
    </sensor>
  </gazebo>
  <sensor name="head_imu_0" type="accelerometer">
    <parent link="head"/>
    <origin rpy="-3.14159 -9.68848e-15 1.5708 " xyz="-0.0043 -0.0055 0.0382345"/>
  </sensor>
  <gazebo reference="realsense">
    <sensor name="realsense_head_depth" type="depth">
      <always_on>1</always_on>
      <update_rate>30.000000</update_rate>
      <pose>0.00751548 -0.0115 1.73521e-08 -1.5708 3.75968e-16 -1.5708 </pose>
      <camera name="intel_realsense_depth_camera">
        <pose>0 0 0 -1.57079 -1.57079 3.14159</pose>
        <horizontal_fov>1.2217</horizontal_fov>
        <distortion>
          <k1>0</k1>
          <k2>0</k2>
          <k3>0</k3>
          <p1>0</p1>
          <p2>0</p2>
          <center>319.5 239.5</center>
        </distortion>
        <image>
          <width>640</width>
          <height>480</height>
          <format>R8G8B8</format>
        </image>
        <clip>
          <near>0.175</near>
          <far>3000</far>
        </clip>
      </camera>
      <visualize>false</visualize>
      <plugin name="ergocub_yarp_gazebo_plugin_depthCamera" filename="libgazebo_yarp_depthCamera.so">
        <yarpConfigurationFile>model://ergoCub/conf/sensors/gazebo_ergocub_rgbd_camera.ini</yarpConfigurationFile>
      </plugin>
    </sensor>
  </gazebo>
  <sensor name="realsense_head_depth" type="depth">
    <parent link="realsense"/>
    <origin rpy="-1.5708 3.75968e-16 -1.5708 " xyz="0.00751548 -0.0115 1.73521e-08"/>
  </sensor>
  <gazebo reference="realsense">
    <sensor name="realsense_head_rgb" type="camera">
      <always_on>1</always_on>
      <update_rate>30.000000</update_rate>
      <pose>0.00751548 -0.0115 1.73521e-08 -1.5708 3.75968e-16 -1.5708 </pose>
      <camera name="intel_realsense_rgb_camera">
        <pose>0 0 0 -1.57079 -1.57079 3.14159</pose>
        <horizontal_fov>1.2217</horizontal_fov>
        <distortion>
          <k1>0</k1>
          <k2>0</k2>
          <k3>0</k3>
          <p1>0</p1>
          <p2>0</p2>
          <center>319.5 239.5</center>
        </distortion>
        <image>
          <width>640</width>
          <height>480</height>
          <format>R8G8B8</format>
        </image>
        <clip>
          <near>0.02</near>
          <far>3000</far>
        </clip>
      </camera>
      <visualize>false</visualize>
      <plugin name="ergocub_yarp_gazebo_plugin_camera" filename="libgazebo_yarp_camera.so">
        <yarpConfigurationFile>model://ergoCub/conf/gazebo_ergocub_rgb_camera.ini</yarpConfigurationFile>
      </plugin>
    </sensor>
  </gazebo>
  <sensor name="realsense_head_rgb" type="camera">
    <parent link="realsense"/>
    <origin rpy="-1.5708 3.75968e-16 -1.5708 " xyz="0.00751548 -0.0115 1.73521e-08"/>
  </sensor>
  <gazebo reference="realsense">
    <sensor name="realsense_imu_0" type="imu">
      <always_on>1</always_on>
      <update_rate>100.000000</update_rate>
      <pose>0.00751548 0.01 1.73521e-08 -1.5708 3.75968e-16 -1.5708 </pose>
      <plugin name="ergocub_yarp_gazebo_plugin_IMU" filename="libgazebo_yarp_imu.so">
        <yarpConfigurationFile>model://ergoCub/conf/gazebo_ergocub_realsense_inertial.ini</yarpConfigurationFile>
      </plugin>
    </sensor>
  </gazebo>
  <sensor name="realsense_imu_0" type="accelerometer">
    <parent link="realsense"/>
    <origin rpy="-1.5708 3.75968e-16 -1.5708 " xyz="0.00751548 0.01 1.73521e-08"/>
  </sensor>
  <gazebo reference="head">
    <sensor name="lasersensor_head" type="gpu_lidar">
      <always_on>1</always_on>
      <update_rate>100.000000</update_rate>
      <pose>5e-05 -1.93855e-15 0.134802 9.72195e-15 5.33157e-15 3.16761e-15 </pose>
      <always_on>1</always_on>
      <visualize>true</visualize>
      <update_rate>40</update_rate>
      <ray>
        <scan>
          <horizontal>
            <samples>720</samples>
            <resolution>0.5</resolution>
            <min_angle>0</min_angle>
            <max_angle>6.28</max_angle>
          </horizontal>
        </scan>
        <range>
          <min>0.2</min>
          <max>5</max>
          <resolution>0.01</resolution>
        </range>
        <noise>
          <type>gaussian</type>
          <mean>0</mean>
          <stddev>0.005</stddev>
        </noise>
      </ray>
      <plugin name="ergocub_yarp_gazebo_plugin_laser" filename="libgazebo_yarp_lasersensor.so">
        <yarpConfigurationFile>model://ergoCub/conf/sensors/gazebo_ergocub_lidar.ini</yarpConfigurationFile>
      </plugin>
    </sensor>
  </gazebo>
  <sensor name="lasersensor_head" type="gpu_lidar">
    <parent link="head"/>
    <origin rpy="9.72195e-15 5.33157e-15 3.16761e-15 " xyz="5e-05 -1.93855e-15 0.134802"/>
  </sensor>
  <gazebo reference="l_foot_front">
    <sensor name="l_foot_front_ft_imu" type="imu">
      <always_on>1</always_on>
      <update_rate>100.000000</update_rate>
      <pose>0 0 0 1.25667e-16 2.20112e-17 -2.0944 </pose>
      <plugin name="ergocub_yarp_gazebo_plugin_IMU" filename="libgazebo_yarp_imu.so">
        <yarpConfigurationFile>model://ergoCub/conf/gazebo_ergocub_l_foot_front_ft_sensor_inertial.ini</yarpConfigurationFile>
      </plugin>
    </sensor>
  </gazebo>
  <sensor name="l_foot_front_ft_imu" type="accelerometer">
    <parent link="l_foot_front"/>
    <origin rpy="1.25667e-16 2.20112e-17 -2.0944 " xyz="0 0 0"/>
  </sensor>
  <gazebo reference="l_foot_rear">
    <sensor name="l_foot_rear_ft_imu" type="imu">
      <always_on>1</always_on>
      <update_rate>100.000000</update_rate>
      <pose>0 0 0 1.25667e-16 2.20112e-17 -2.0944 </pose>
      <plugin name="ergocub_yarp_gazebo_plugin_IMU" filename="libgazebo_yarp_imu.so">
        <yarpConfigurationFile>model://ergoCub/conf/gazebo_ergocub_l_foot_rear_ft_sensor_inertial.ini</yarpConfigurationFile>
      </plugin>
    </sensor>
  </gazebo>
  <sensor name="l_foot_rear_ft_imu" type="accelerometer">
    <parent link="l_foot_rear"/>
    <origin rpy="1.25667e-16 2.20112e-17 -2.0944 " xyz="0 0 0"/>
  </sensor>
  <gazebo reference="r_foot_front">
    <sensor name="r_foot_front_ft_imu" type="imu">
      <always_on>1</always_on>
      <update_rate>100.000000</update_rate>
      <pose>0 1.38778e-17 1.11022e-16 -1.0903e-16 -1.44222e-16 -2.0944 </pose>
      <plugin name="ergocub_yarp_gazebo_plugin_IMU" filename="libgazebo_yarp_imu.so">
        <yarpConfigurationFile>model://ergoCub/conf/gazebo_ergocub_r_foot_front_ft_sensor_inertial.ini</yarpConfigurationFile>
      </plugin>
    </sensor>
  </gazebo>
  <sensor name="r_foot_front_ft_imu" type="accelerometer">
    <parent link="r_foot_front"/>
    <origin rpy="-1.0903e-16 -1.44222e-16 -2.0944 " xyz="0 1.38778e-17 1.11022e-16"/>
  </sensor>
  <gazebo reference="r_foot_rear">
    <sensor name="r_foot_rear_ft_imu" type="imu">
      <always_on>1</always_on>
      <update_rate>100.000000</update_rate>
      <pose>3.46945e-18 0 0 -1.0903e-16 -1.44222e-16 -2.0944 </pose>
      <plugin name="ergocub_yarp_gazebo_plugin_IMU" filename="libgazebo_yarp_imu.so">
        <yarpConfigurationFile>model://ergoCub/conf/gazebo_ergocub_r_foot_rear_ft_sensor_inertial.ini</yarpConfigurationFile>
      </plugin>
    </sensor>
  </gazebo>
  <sensor name="r_foot_rear_ft_imu" type="accelerometer">
    <parent link="r_foot_rear"/>
    <origin rpy="-1.0903e-16 -1.44222e-16 -2.0944 " xyz="3.46945e-18 0 0"/>
  </sensor>
  <gazebo reference="l_shoulder_3">
    <sensor name="l_arm_ft_imu" type="imu">
      <always_on>1</always_on>
      <update_rate>100.000000</update_rate>
      <pose>-3.46945e-18 0 0 3.14159 1.94289e-16 -1.5708 </pose>
      <plugin name="ergocub_yarp_gazebo_plugin_IMU" filename="libgazebo_yarp_imu.so">
        <yarpConfigurationFile>model://ergoCub/conf/gazebo_ergocub_l_arm_ft_sensor_inertial.ini</yarpConfigurationFile>
      </plugin>
    </sensor>
  </gazebo>
  <sensor name="l_arm_ft_imu" type="accelerometer">
    <parent link="l_shoulder_3"/>
    <origin rpy="3.14159 1.94289e-16 -1.5708 " xyz="-3.46945e-18 0 0"/>
  </sensor>
  <gazebo reference="r_shoulder_3">
    <sensor name="r_arm_ft_imu" type="imu">
      <always_on>1</always_on>
      <update_rate>100.000000</update_rate>
      <pose>0 0 0 -3.14159 -2.77556e-17 1.5708 </pose>
      <plugin name="ergocub_yarp_gazebo_plugin_IMU" filename="libgazebo_yarp_imu.so">
        <yarpConfigurationFile>model://ergoCub/conf/gazebo_ergocub_r_arm_ft_sensor_inertial.ini</yarpConfigurationFile>
      </plugin>
    </sensor>
  </gazebo>
  <sensor name="r_arm_ft_imu" type="accelerometer">
    <parent link="r_shoulder_3"/>
    <origin rpy="-3.14159 -2.77556e-17 1.5708 " xyz="0 0 0"/>
  </sensor>
  <gazebo reference="l_hip_3">
    <sensor name="l_leg_ft_imu" type="imu">
      <always_on>1</always_on>
      <update_rate>100.000000</update_rate>
      <pose>5.20417e-18 0 0 3.14159 -2.02132e-15 2.61799 </pose>
      <plugin name="ergocub_yarp_gazebo_plugin_IMU" filename="libgazebo_yarp_imu.so">
        <yarpConfigurationFile>model://ergoCub/conf/gazebo_ergocub_l_leg_ft_sensor_inertial.ini</yarpConfigurationFile>
      </plugin>
    </sensor>
  </gazebo>
  <sensor name="l_leg_ft_imu" type="accelerometer">
    <parent link="l_hip_3"/>
    <origin rpy="3.14159 -2.02132e-15 2.61799 " xyz="5.20417e-18 0 0"/>
  </sensor>
  <gazebo reference="r_hip_3">
    <sensor name="r_leg_ft_imu" type="imu">
      <always_on>1</always_on>
      <update_rate>100.000000</update_rate>
      <pose>1.21431e-17 2.77556e-17 5.55112e-17 3.14159 2.98881e-16 -2.61799 </pose>
      <plugin name="ergocub_yarp_gazebo_plugin_IMU" filename="libgazebo_yarp_imu.so">
        <yarpConfigurationFile>model://ergoCub/conf/gazebo_ergocub_r_leg_ft_sensor_inertial.ini</yarpConfigurationFile>
      </plugin>
    </sensor>
  </gazebo>
  <sensor name="r_leg_ft_imu" type="accelerometer">
    <parent link="r_hip_3"/>
    <origin rpy="3.14159 2.98881e-16 -2.61799 " xyz="1.21431e-17 2.77556e-17 5.55112e-17"/>
  </sensor>
  <gazebo>
    <plugin name="controlboard_left_hand" filename="libgazebo_yarp_controlboard.so">
      <yarpConfigurationFile>model://ergoCub/conf/gazebo_ergocub_left_hand_mk5_3.ini</yarpConfigurationFile>
      <initialConfiguration>0.0 0.06335 0.0 0.0 0.10036 0.0 0.10036 0.0 0.10036 0.0 0.10036 0.048519</initialConfiguration>
    </plugin>
  </gazebo>
  <gazebo>
    <plugin name="gzyarp::ControlBoard" filename="gz-sim-yarp-controlboard-system">
      <yarpConfigurationFile>model://ergoCub/conf/gazebo_ergocub_left_hand_mk5_3.ini</yarpConfigurationFile>
      <initialConfiguration>0.0 0.06335 0.0 0.0 0.10036 0.0 0.10036 0.0 0.10036 0.0 0.10036 0.048519</initialConfiguration>
    </plugin>
  </gazebo>
  <gazebo>
    <plugin name="controlboard_right_hand" filename="libgazebo_yarp_controlboard.so">
      <yarpConfigurationFile>model://ergoCub/conf/gazebo_ergocub_right_hand_mk5_3.ini</yarpConfigurationFile>
      <initialConfiguration>0.0 0.06335 0.0 0.0 0.10036 0.0 0.10036 0.0 0.10036 0.0 0.10036 0.048519</initialConfiguration>
    </plugin>
  </gazebo>
  <gazebo>
    <plugin name="gzyarp::ControlBoard" filename="gz-sim-yarp-controlboard-system">
      <yarpConfigurationFile>model://ergoCub/conf/gazebo_ergocub_right_hand_mk5_3.ini</yarpConfigurationFile>
      <initialConfiguration>0.0 0.06335 0.0 0.0 0.10036 0.0 0.10036 0.0 0.10036 0.0 0.10036 0.048519</initialConfiguration>
    </plugin>
  </gazebo>
  <link name="waist_imu_0"/>
  <joint name="waist_imu_0_fixed_joint" type="fixed">
    <origin xyz="0.0606 -0.00639428 0.01745" rpy="1.5708 -0.000105208 -1.5708"/>
    <parent link="torso_1"/>
    <child link="waist_imu_0"/>
    <dynamics damping="0.1"/>
  </joint>
  <gazebo>
    <plugin name="ergocub_yarp_gazebo_plugin_IMU" filename="libgazebo_yarp_imu.so">
      <yarpConfigurationFile>model://ergoCub/conf/gazebo_ergocub_waist_inertial.ini</yarpConfigurationFile>
    </plugin>
  </gazebo>
  <gazebo reference="torso_1">
    <sensor name="waist_imu_0" type="imu">
      <always_on>1</always_on>
      <update_rate>100</update_rate>
      <pose>0.0606 -0.00639428 0.01745 1.5708 -0.000105208 -1.5708</pose>
      <plugin name="ergocub_yarp_gazebo_plugin_IMU" filename="libgazebo_yarp_imu.so">
        <yarpConfigurationFile>model://ergoCub/conf/gazebo_ergocub_waist_inertial.ini</yarpConfigurationFile>
      </plugin>
    </sensor>
  </gazebo>
  <gazebo>
    <plugin name="gzyarp::Imu" filename="gz-sim-yarp-imu-system">
      <yarpConfigurationFile>model://ergoCub/conf/gazebo_ergocub_waist_inertial.ini</yarpConfigurationFile>
    </plugin>
  </gazebo>
  <sensor name="waist_imu_0" type="accelerometer">
    <parent link="torso_1"/>
    <origin xyz="0.0606 -0.00639428 0.01745" rpy="1.5708 -0.000105208 -1.5708"/>
  </sensor>
  <link name="base_link"/>
  <joint name="base_link_fixed_joint" type="fixed">
    <origin xyz="0 0 0" rpy="0 -0 0"/>
    <axis xyz="0 0 0"/>
    <parent link="root_link"/>
    <child link="base_link"/>
  </joint>
  <gazebo reference="r_arm_ft_sensor">
    <preserveFixedJoint>true</preserveFixedJoint>
    <!-- For compatibility with SDFormat < 4.4 -->
    <disableFixedJointLumping>true</disableFixedJointLumping>
  </gazebo>
  <gazebo reference="l_arm_ft_sensor">
    <preserveFixedJoint>true</preserveFixedJoint>
    <!-- For compatibility with SDFormat < 4.4 -->
    <disableFixedJointLumping>true</disableFixedJointLumping>
  </gazebo>
  <gazebo>
    <plugin name="gzyarp::ForceTorque" filename="gz-sim-yarp-forcetorque-system">
      <yarpConfigurationFile>model://ergoCub/conf/FT/gazebo_ergocub_left_arm_ft.ini</yarpConfigurationFile>
    </plugin>
  </gazebo>
  <gazebo>
    <plugin name="gzyarp::ForceTorque" filename="gz-sim-yarp-forcetorque-system">
      <yarpConfigurationFile>model://ergoCub/conf/FT/gazebo_ergocub_right_arm_ft.ini</yarpConfigurationFile>
    </plugin>
  </gazebo>
  <gazebo>
    <plugin name="gzyarp::Imu" filename="gz-sim-yarp-imu-system">
      <yarpConfigurationFile>model://ergoCub/conf/gazebo_ergocub_l_arm_ft_sensor_inertial.ini</yarpConfigurationFile>
    </plugin>
  </gazebo>
  <gazebo>
    <plugin name="gzyarp::Imu" filename="gz-sim-yarp-imu-system">
      <yarpConfigurationFile>model://ergoCub/conf/gazebo_ergocub_r_arm_ft_sensor_inertial.ini</yarpConfigurationFile>
    </plugin>
  </gazebo>
  <gazebo>
    <plugin name="controlboard_torso" filename="libgazebo_yarp_controlboard.so">
      <yarpConfigurationFile>model://ergoCub/conf/gazebo_ergocub_torso.ini</yarpConfigurationFile>
    </plugin>
  </gazebo>
  <gazebo>
    <plugin name="gzyarp::ControlBoard" filename="gz-sim-yarp-controlboard-system">
      <yarpConfigurationFile>model://ergoCub/conf/gazebo_ergocub_torso.ini</yarpConfigurationFile>
    </plugin>
  </gazebo>
  <gazebo reference="torso_pitch">
    <implicitSpringDamper>1</implicitSpringDamper>
  </gazebo>
  <gazebo reference="torso_roll">
    <implicitSpringDamper>1</implicitSpringDamper>
  </gazebo>
  <gazebo reference="torso_yaw">
    <implicitSpringDamper>1</implicitSpringDamper>
  </gazebo>
  <gazebo reference="r_shoulder_pitch">
    <implicitSpringDamper>1</implicitSpringDamper>
  </gazebo>
  <gazebo reference="r_shoulder_roll">
    <implicitSpringDamper>1</implicitSpringDamper>
  </gazebo>
  <gazebo reference="r_shoulder_yaw">
    <implicitSpringDamper>1</implicitSpringDamper>
  </gazebo>
  <gazebo reference="l_shoulder_pitch">
    <implicitSpringDamper>1</implicitSpringDamper>
  </gazebo>
  <gazebo reference="l_shoulder_roll">
    <implicitSpringDamper>1</implicitSpringDamper>
  </gazebo>
  <gazebo reference="l_shoulder_yaw">
    <implicitSpringDamper>1</implicitSpringDamper>
  </gazebo>
  <gazebo reference="realsense">
    <sensor name="realsense_head_rgbd" type="rgbd_camera">
      <always_on>1</always_on>
      <update_rate>30.000000</update_rate>
      <pose>0.00751548 -0.0115 1.73521e-08 0 0 0 </pose>
      <camera name="intel_realsense_rgbd_camera">
        <pose>0 0 0 -1.57079 -1.57079 3.14159</pose>
        <horizontal_fov>1.2217</horizontal_fov>
        <distortion>
          <k1>0</k1>
          <k2>0</k2>
          <k3>0</k3>
          <p1>0</p1>
          <p2>0</p2>
          <center>319.5 239.5</center>
        </distortion>
        <image>
          <width>640</width>
          <height>480</height>
          <format>R8G8B8</format>
        </image>
        <clip>
          <near>0.175</near>
          <far>3000</far>
        </clip>
      </camera>
      <visualize>false</visualize>
    </sensor>
  </gazebo>
  <sensor name="realsense_head_rgbd" type="rgbd_camera">
    <parent link="realsense"/>
    <origin rpy="-1.5708 3.75968e-16 -1.5708 " xyz="0.00751548 -0.0115 1.73521e-08"/>
  </sensor>
  <gazebo reference="l_leg_ft_sensor">
    <preserveFixedJoint>true</preserveFixedJoint>
    <!-- For compatibility with SDFormat < 4.4 -->
    <disableFixedJointLumping>true</disableFixedJointLumping>
  </gazebo>
  <gazebo reference="l_foot_front_ft_sensor">
    <preserveFixedJoint>true</preserveFixedJoint>
    <!-- For compatibility with SDFormat < 4.4 -->
    <disableFixedJointLumping>true</disableFixedJointLumping>
  </gazebo>
  <gazebo reference="l_foot_rear_ft_sensor">
    <preserveFixedJoint>true</preserveFixedJoint>
    <!-- For compatibility with SDFormat < 4.4 -->
    <disableFixedJointLumping>true</disableFixedJointLumping>
  </gazebo>
  <gazebo reference="l_foot_front">
    <collision>
      <surface>
        <bounce>
          <restitution_coefficient>0</restitution_coefficient>
          <threshold>100000</threshold>
        </bounce>
      </surface>
    </collision>
    <maxContacts>4</maxContacts>
    <kp>18000000</kp>
    <kd>100</kd>
    <maxVel>100</maxVel>
    <minDepth>0.0001</minDepth>
    <mu1>1</mu1>
    <mu2>1</mu2>
    <fdir1>0 0 0</fdir1>
  </gazebo>
  <gazebo reference="l_foot_rear">
    <collision>
      <surface>
        <bounce>
          <restitution_coefficient>0</restitution_coefficient>
          <threshold>100000</threshold>
        </bounce>
      </surface>
    </collision>
    <maxContacts>4</maxContacts>
    <kp>18000000</kp>
    <kd>100</kd>
    <maxVel>100</maxVel>
    <minDepth>0.0001</minDepth>
    <mu1>1</mu1>
    <mu2>1</mu2>
    <fdir1>0 0 0</fdir1>
  </gazebo>
  <gazebo>
    <plugin name="gzyarp::ForceTorque" filename="gz-sim-yarp-forcetorque-system">
      <yarpConfigurationFile>model://ergoCub/conf/FT/gazebo_ergocub_left_leg_ft.ini</yarpConfigurationFile>
    </plugin>
  </gazebo>
  <gazebo>
    <plugin name="gzyarp::ForceTorque" filename="gz-sim-yarp-forcetorque-system">
      <yarpConfigurationFile>model://ergoCub/conf/FT/gazebo_ergocub_left_foot_front_ft.ini</yarpConfigurationFile>
    </plugin>
  </gazebo>
  <gazebo>
    <plugin name="gzyarp::ForceTorque" filename="gz-sim-yarp-forcetorque-system">
      <yarpConfigurationFile>model://ergoCub/conf/FT/gazebo_ergocub_left_foot_rear_ft.ini</yarpConfigurationFile>
    </plugin>
  </gazebo>
  <gazebo>
    <plugin name="gzyarp::Imu" filename="gz-sim-yarp-imu-system">
      <yarpConfigurationFile>model://ergoCub/conf/gazebo_ergocub_l_foot_front_ft_sensor_inertial.ini</yarpConfigurationFile>
    </plugin>
  </gazebo>
  <gazebo>
    <plugin name="gzyarp::Imu" filename="gz-sim-yarp-imu-system">
      <yarpConfigurationFile>model://ergoCub/conf/gazebo_ergocub_l_foot_rear_ft_sensor_inertial.ini</yarpConfigurationFile>
    </plugin>
  </gazebo>
  <gazebo>
    <plugin name="gzyarp::Imu" filename="gz-sim-yarp-imu-system">
      <yarpConfigurationFile>model://ergoCub/conf/gazebo_ergocub_l_leg_ft_sensor_inertial.ini</yarpConfigurationFile>
    </plugin>
  </gazebo>
  <gazebo>
    <plugin name="controlboard_left_leg" filename="libgazebo_yarp_controlboard.so">
      <yarpConfigurationFile>model://ergoCub/conf/gazebo_ergocub_left_leg.ini</yarpConfigurationFile>
    </plugin>
  </gazebo>
  <gazebo>
    <plugin name="gzyarp::ControlBoard" filename="gz-sim-yarp-controlboard-system">
      <yarpConfigurationFile>model://ergoCub/conf/gazebo_ergocub_left_leg.ini</yarpConfigurationFile>
    </plugin>
  </gazebo>
  <gazebo reference="l_hip_pitch">
    <implicitSpringDamper>1</implicitSpringDamper>
  </gazebo>
  <gazebo reference="l_hip_roll">
    <implicitSpringDamper>1</implicitSpringDamper>
  </gazebo>
  <gazebo reference="l_hip_yaw">
    <implicitSpringDamper>1</implicitSpringDamper>
  </gazebo>
  <gazebo reference="l_knee">
    <implicitSpringDamper>1</implicitSpringDamper>
  </gazebo>
  <gazebo reference="l_ankle_pitch">
    <implicitSpringDamper>1</implicitSpringDamper>
  </gazebo>
  <gazebo reference="l_ankle_roll">
    <implicitSpringDamper>1</implicitSpringDamper>
  </gazebo>
  <gazebo reference="r_leg_ft_sensor">
    <preserveFixedJoint>true</preserveFixedJoint>
    <!-- For compatibility with SDFormat < 4.4 -->
    <disableFixedJointLumping>true</disableFixedJointLumping>
  </gazebo>
  <gazebo reference="r_foot_front_ft_sensor">
    <preserveFixedJoint>true</preserveFixedJoint>
    <!-- For compatibility with SDFormat < 4.4 -->
    <disableFixedJointLumping>true</disableFixedJointLumping>
  </gazebo>
  <gazebo reference="r_foot_rear_ft_sensor">
    <preserveFixedJoint>true</preserveFixedJoint>
    <!-- For compatibility with SDFormat < 4.4 -->
    <disableFixedJointLumping>true</disableFixedJointLumping>
  </gazebo>
  <gazebo reference="r_foot_front">
    <collision>
      <surface>
        <bounce>
          <restitution_coefficient>0</restitution_coefficient>
          <threshold>100000</threshold>
        </bounce>
      </surface>
    </collision>
    <maxContacts>4</maxContacts>
    <kp>18000000</kp>
    <kd>100</kd>
    <maxVel>100</maxVel>
    <minDepth>0.0001</minDepth>
    <mu1>1</mu1>
    <mu2>1</mu2>
    <fdir1>0 0 0</fdir1>
  </gazebo>
  <gazebo reference="r_foot_rear">
    <collision>
      <surface>
        <bounce>
          <restitution_coefficient>0</restitution_coefficient>
          <threshold>100000</threshold>
        </bounce>
      </surface>
    </collision>
    <maxContacts>4</maxContacts>
    <kp>18000000</kp>
    <kd>100</kd>
    <maxVel>100</maxVel>
    <minDepth>0.0001</minDepth>
    <mu1>1</mu1>
    <mu2>1</mu2>
    <fdir1>0 0 0</fdir1>
  </gazebo>
  <gazebo>
    <plugin name="gzyarp::ForceTorque" filename="gz-sim-yarp-forcetorque-system">
      <yarpConfigurationFile>model://ergoCub/conf/FT/gazebo_ergocub_right_leg_ft.ini</yarpConfigurationFile>
    </plugin>
  </gazebo>
  <gazebo>
    <plugin name="gzyarp::ForceTorque" filename="gz-sim-yarp-forcetorque-system">
      <yarpConfigurationFile>model://ergoCub/conf/FT/gazebo_ergocub_right_foot_front_ft.ini</yarpConfigurationFile>
    </plugin>
  </gazebo>
  <gazebo>
    <plugin name="gzyarp::ForceTorque" filename="gz-sim-yarp-forcetorque-system">
      <yarpConfigurationFile>model://ergoCub/conf/FT/gazebo_ergocub_right_foot_rear_ft.ini</yarpConfigurationFile>
    </plugin>
  </gazebo>
  <gazebo>
    <plugin name="gzyarp::Imu" filename="gz-sim-yarp-imu-system">
      <yarpConfigurationFile>model://ergoCub/conf/gazebo_ergocub_r_foot_front_ft_sensor_inertial.ini</yarpConfigurationFile>
    </plugin>
  </gazebo>
  <gazebo>
    <plugin name="gzyarp::Imu" filename="gz-sim-yarp-imu-system">
      <yarpConfigurationFile>model://ergoCub/conf/gazebo_ergocub_r_foot_rear_ft_sensor_inertial.ini</yarpConfigurationFile>
    </plugin>
  </gazebo>
  <gazebo>
    <plugin name="gzyarp::Imu" filename="gz-sim-yarp-imu-system">
      <yarpConfigurationFile>model://ergoCub/conf/gazebo_ergocub_r_leg_ft_sensor_inertial.ini</yarpConfigurationFile>
    </plugin>
  </gazebo>
  <gazebo>
    <plugin name="controlboard_right_leg" filename="libgazebo_yarp_controlboard.so">
      <yarpConfigurationFile>model://ergoCub/conf/gazebo_ergocub_right_leg.ini</yarpConfigurationFile>
    </plugin>
  </gazebo>
  <gazebo>
    <plugin name="gzyarp::ControlBoard" filename="gz-sim-yarp-controlboard-system">
      <yarpConfigurationFile>model://ergoCub/conf/gazebo_ergocub_right_leg.ini</yarpConfigurationFile>
    </plugin>
  </gazebo>
  <gazebo reference="r_hip_pitch">
    <implicitSpringDamper>1</implicitSpringDamper>
  </gazebo>
  <gazebo reference="r_hip_roll">
    <implicitSpringDamper>1</implicitSpringDamper>
  </gazebo>
  <gazebo reference="r_hip_yaw">
    <implicitSpringDamper>1</implicitSpringDamper>
  </gazebo>
  <gazebo reference="r_knee">
    <implicitSpringDamper>1</implicitSpringDamper>
  </gazebo>
  <gazebo reference="r_ankle_pitch">
    <implicitSpringDamper>1</implicitSpringDamper>
  </gazebo>
  <gazebo reference="r_ankle_roll">
    <implicitSpringDamper>1</implicitSpringDamper>
  </gazebo>
  <gazebo>
    <plugin name="gzyarp::Imu" filename="gz-sim-yarp-imu-system">
      <yarpConfigurationFile>model://ergoCub/conf/gazebo_ergocub_inertial.ini</yarpConfigurationFile>
    </plugin>
  </gazebo>
  <gazebo>
    <plugin name="gzyarp::Imu" filename="gz-sim-yarp-imu-system">
      <yarpConfigurationFile>model://ergoCub/conf/gazebo_ergocub_realsense_inertial.ini</yarpConfigurationFile>
    </plugin>
  </gazebo>
  <gazebo>
    <plugin name="gzyarp::Laser" filename="gz-sim-yarp-laser-system">
      <yarpConfigurationFile>model://ergoCub/conf/sensors/gazebo_ergocub_lidar.ini</yarpConfigurationFile>
    </plugin>
  </gazebo>
  <gazebo>
    <plugin name="controlboard_head" filename="libgazebo_yarp_controlboard.so">
      <yarpConfigurationFile>model://ergoCub/conf/gazebo_ergocub_head.ini</yarpConfigurationFile>
    </plugin>
  </gazebo>
  <gazebo>
    <plugin name="gzyarp::DepthCamera" filename="gz-sim-yarp-depthcamera-system">
      <yarpConfigurationFile>model://ergoCub/conf/sensors/gz_sim_ergocub_rgbd_camera.ini</yarpConfigurationFile>
    </plugin>
  </gazebo>
  <gazebo>
    <plugin name="gzyarp::ControlBoard" filename="gz-sim-yarp-controlboard-system">
      <yarpConfigurationFile>model://ergoCub/conf/gazebo_ergocub_head.ini</yarpConfigurationFile>
    </plugin>
  </gazebo>
  <gazebo reference="neck_pitch">
    <implicitSpringDamper>1</implicitSpringDamper>
  </gazebo>
  <gazebo reference="neck_roll">
    <implicitSpringDamper>1</implicitSpringDamper>
  </gazebo>
  <gazebo reference="neck_yaw">
    <implicitSpringDamper>1</implicitSpringDamper>
  </gazebo>
  <gazebo>
    <plugin name="controlboard_left_arm_no_hand" filename="libgazebo_yarp_controlboard.so">
      <yarpConfigurationFile>model://ergoCub/conf/gazebo_ergocub_left_arm_wrist_mk2_1.ini</yarpConfigurationFile>
      <initialConfiguration>-0.52 0.52 0 0.785 0 0 0.0</initialConfiguration>
    </plugin>
  </gazebo>
  <gazebo>
    <plugin name="gzyarp::ControlBoard" filename="gz-sim-yarp-controlboard-system">
      <yarpConfigurationFile>model://ergoCub/conf/gazebo_ergocub_left_arm_wrist_mk2_1.ini</yarpConfigurationFile>
      <initialConfiguration>-0.52 0.52 0 0.785 0 0 0.0</initialConfiguration>
    </plugin>
  </gazebo>
  <gazebo reference="l_shoulder_pitch">
    <implicitSpringDamper>1</implicitSpringDamper>
  </gazebo>
  <gazebo reference="l_shoulder_roll">
    <implicitSpringDamper>1</implicitSpringDamper>
  </gazebo>
  <gazebo reference="l_shoulder_yaw">
    <implicitSpringDamper>1</implicitSpringDamper>
  </gazebo>
  <gazebo reference="l_elbow">
    <implicitSpringDamper>1</implicitSpringDamper>
  </gazebo>
  <gazebo reference="l_wrist_roll">
    <implicitSpringDamper>1</implicitSpringDamper>
  </gazebo>
  <gazebo reference="l_wrist_pitch">
    <implicitSpringDamper>1</implicitSpringDamper>
  </gazebo>
  <gazebo reference="l_wrist_yaw">
    <implicitSpringDamper>1</implicitSpringDamper>
  </gazebo>
  <gazebo>
    <plugin name="controlboard_right_arm_no_hand" filename="libgazebo_yarp_controlboard.so">
      <yarpConfigurationFile>model://ergoCub/conf/gazebo_ergocub_right_arm_wrist_mk2_1.ini</yarpConfigurationFile>
      <initialConfiguration>-0.52 0.52 0 0.785 0 0 0.0</initialConfiguration>
    </plugin>
  </gazebo>
  <gazebo>
    <plugin name="gzyarp::ControlBoard" filename="gz-sim-yarp-controlboard-system">
      <yarpConfigurationFile>model://ergoCub/conf/gazebo_ergocub_right_arm_wrist_mk2_1.ini</yarpConfigurationFile>
      <initialConfiguration>-0.52 0.52 0 0.785 0 0 0.0</initialConfiguration>
    </plugin>
  </gazebo>
  <gazebo reference="r_shoulder_pitch">
    <implicitSpringDamper>1</implicitSpringDamper>
  </gazebo>
  <gazebo reference="r_shoulder_roll">
    <implicitSpringDamper>1</implicitSpringDamper>
  </gazebo>
  <gazebo reference="r_shoulder_yaw">
    <implicitSpringDamper>1</implicitSpringDamper>
  </gazebo>
  <gazebo reference="r_elbow">
    <implicitSpringDamper>1</implicitSpringDamper>
  </gazebo>
  <gazebo reference="r_wrist_roll">
    <implicitSpringDamper>1</implicitSpringDamper>
  </gazebo>
  <gazebo reference="r_wrist_pitch">
    <implicitSpringDamper>1</implicitSpringDamper>
  </gazebo>
  <gazebo reference="r_wrist_yaw">
    <implicitSpringDamper>1</implicitSpringDamper>
  </gazebo>
  <gazebo>
    <plugin name="robotinterface" filename="libgazebo_yarp_robotinterface.so">
      <yarpRobotInterfaceConfigurationFile>model://ergoCub/conf/ergocub.xml</yarpRobotInterfaceConfigurationFile>
    </plugin>
  </gazebo>
  <gazebo>
    <plugin name="gzyarp::RobotInterface" filename="gz-sim-yarp-robotinterface-system">
      <yarpRobotInterfaceConfigurationFile>model://ergoCub/conf/ergocub.xml</yarpRobotInterfaceConfigurationFile>
    </plugin>
  </gazebo>
  <gazebo>
    <pose>0.000000 0.000000 0.800000 0.000000 0.000000 0.000000</pose>
  </gazebo>
</robot>
